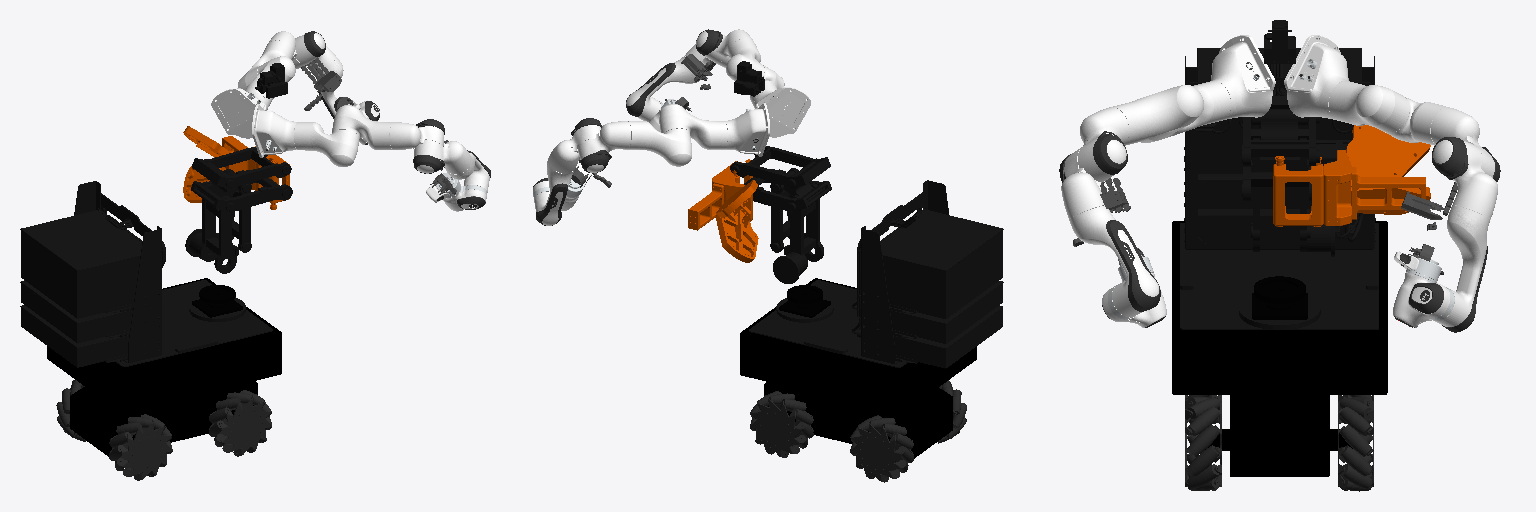
--- What the picture shows (computed from the rendered views, not written in the file) ---
3 views of the same robot in one strip: view 1: azimuth 30°, elevation 25°; view 2: azimuth 150°, elevation 25°; view 3: azimuth 270°, elevation 25° (orthographic).
Robot: curi — 111 links, 110 joints (91 revolute, 4 continuous, 14 fixed, 1 floating); root link world; default pose: joints at zero except 2 at the middle of their limits (panda_left_joint4 = -1.57, panda_right_joint4 = -1.57).
Visible links, largest first — view 1: control_box, summit_xls_base_link, summit_xls_back_right_wheel_link, summit_xls_front_right_wheel_link, torso_link_b2, torso_end, torso_link_c2, panda_right_link1, panda_left_link0, panda_right_link0, torso_link_c1, panda_right_link4 (+10 smaller); view 2: control_box, summit_xls_base_link, torso_end, summit_xls_back_left_wheel_link, summit_xls_front_left_wheel_link, torso_link_b2, torso_link_c2, panda_left_link2, panda_right_link0, panda_left_link1, panda_left_link0, panda_right_link5 (+9 smaller); view 3: control_box, summit_xls_base_link, torso_end, panda_right_link5, panda_right_link0, panda_left_link0, panda_left_link5, summit_xls_front_right_wheel_link, panda_right_link2, panda_left_link4, summit_xls_front_left_wheel_link, panda_left_link1 (+16 smaller).
Link boxes in pixels (x1=…): control_box: x1=20, y1=181, x2=272, y2=367; summit_xls_base_link: x1=47, y1=278, x2=281, y2=456; summit_xls_back_right_wheel_link: x1=109, y1=414, x2=172, y2=480; summit_xls_front_right_wheel_link: x1=209, y1=390, x2=271, y2=456; torso_link_b2: x1=185, y1=184, x2=238, y2=273; torso_end: x1=183, y1=126, x2=289, y2=209; torso_link_c2: x1=192, y1=147, x2=291, y2=189; panda_right_link1: x1=294, y1=122, x2=359, y2=166; panda_left_link0: x1=211, y1=88, x2=267, y2=138; panda_right_link0: x1=252, y1=104, x2=296, y2=157; torso_link_c1: x1=191, y1=169, x2=292, y2=213; panda_right_link4: x1=413, y1=140, x2=470, y2=173; control_box: x1=749, y1=180, x2=1003, y2=368; summit_xls_base_link: x1=740, y1=278, x2=976, y2=458; torso_end: x1=688, y1=159, x2=758, y2=262; summit_xls_back_left_wheel_link: x1=850, y1=415, x2=913, y2=482; summit_xls_front_left_wheel_link: x1=750, y1=391, x2=813, y2=457; torso_link_b2: x1=773, y1=183, x2=823, y2=283; torso_link_c2: x1=730, y1=146, x2=830, y2=188; panda_left_link2: x1=628, y1=121, x2=691, y2=166; panda_right_link0: x1=754, y1=87, x2=810, y2=137; panda_left_link1: x1=659, y1=104, x2=727, y2=149; panda_left_link0: x1=724, y1=103, x2=769, y2=156; panda_right_link5: x1=626, y1=54, x2=700, y2=121; control_box: x1=1180, y1=48, x2=1378, y2=329; summit_xls_base_link: x1=1172, y1=221, x2=1387, y2=476; torso_end: x1=1273, y1=125, x2=1430, y2=226; panda_right_link5: x1=1069, y1=205, x2=1160, y2=316; panda_right_link0: x1=1211, y1=35, x2=1275, y2=119; panda_left_link0: x1=1284, y1=35, x2=1348, y2=119; panda_left_link5: x1=1435, y1=205, x2=1489, y2=332; summit_xls_front_right_wheel_link: x1=1185, y1=397, x2=1221, y2=490; panda_right_link2: x1=1113, y1=85, x2=1203, y2=145; panda_left_link4: x1=1432, y1=137, x2=1497, y2=219; summit_xls_front_left_wheel_link: x1=1338, y1=397, x2=1373, y2=491; panda_left_link1: x1=1329, y1=81, x2=1409, y2=132.
Size in the robot's own frame: 1.76 by 1.18 by 1.51 metres.
73 mesh visuals loaded from 32 distinct referenced files (9 binary STL, 21 Collada DAE); not drawn: 2 (reference not matched to a file when rendering).

The robot description file, URDF, robot "curi":
<?xml version="1.0" ?>
<!-- =================================================================================== -->
<!-- |    This document was autogenerated by xacro from ../robots/curi.urdf.xacro      | -->
<!-- |    EDITING THIS FILE BY HAND IS NOT RECOMMENDED                                 | -->
<!-- =================================================================================== -->
<robot name="curi">
  <!-- in kg-->
  <!-- =============================================================== -->
  <!-- || This file does not contain official inertial properties   || -->
  <!-- || of panda robot. The values are from the identification    || -->
  <!-- || results published in: Identification of the Franka Emika  || -->
  <!-- || PandaRobot With Retrieval of Feasible Parameters Using    || -->
  <!-- || Penalty-Based Optimization                                || -->
  <!-- || by: Claudio Gaz, Marco Cognetti, Alexander Oliva,         || -->
  <!-- || Paolo Robuffo Giordano, Alessandro de Luca                || -->
  <!-- =============================================================== -->
  <link name="world"/>
  <material name="qbhand/optional">
  <color rgba="0.0 0.5 0.8 1.0"/>
  </material>
  <material name="qbhand/base">
    <color rgba="0.35 0.35 0.35 1.0"/>
  </material>
  <material name="qbhand/palm">
    <color rgba="0.35 0.35 0.35 1.0"/>
  </material>
  <material name="qbhand/knuckle">
    <color rgba="0.35 0.35 0.35 1.0"/>
  </material>
  <material name="qbhand/proximal">
    <color rgba="0.35 0.35 0.35 1.0"/>
  </material>
  <material name="qbhand/middle">
    <color rgba="0.35 0.35 0.35 1.0"/>
  </material>
  <material name="qbhand/distal">
    <color rgba="0.35 0.35 0.35 1.0"/>
  </material>
  <material name="qbhand/default">
    <color rgba="0.35 0.35 0.35 1.0"/>
  </material>
  <joint name="reference" type="floating">
    <parent link="world"/>
    <child link="summit_xls_base_footprint"/>
  </joint>
  <link name="summit_xls_base_footprint">
    <visual>
      <origin rpy="0 0 0" xyz="0 0 0"/>
      <geometry>
        <box size="0.001 0.001 0.001"/>
      </geometry>
    </visual>
  </link>
  <joint name="summit_xls_base_footprint_joint" type="fixed">
    <origin rpy="0 0 0" xyz="0 0 0.127"/>
    <parent link="summit_xls_base_footprint"/>
    <child link="summit_xls_base_link"/>
  </joint>
  <!-- BASE_LINK -->
  <link name="summit_xls_base_link">
    <inertial>
      <mass value="125.0"/>
      <origin xyz="0 0 0"/>
      <inertia ixx="1.391" ixy="0.004" ixz="0.0" iyy="6.853" iyz="0.0" izz="6.125"/>
    </inertial>
    <visual>
      <origin rpy="0 0 0" xyz="0 0 0"/>
      <geometry>
        <mesh filename="../meshes/robotnik/bases/summit_xls_chassis.dae"/>
      </geometry>
      <material name="black">
        <color rgba="0.0 0.0 0.0 1"/>
      </material>
    </visual>
    <collision>
      <origin rpy="0 0 0 " xyz="0 0 0"/>
      <geometry>
        <mesh filename="../meshes/robotnik/bases/summit_xls_chassis.stl"/>
      </geometry>
    </collision>
  </link>
  <joint name="summit_xls_front_right_wheel_joint" type="continuous">
    <parent link="summit_xls_base_link"/>
    <child link="summit_xls_front_right_wheel_link"/>
    <origin rpy="0 0 0" xyz="0.2225 -0.2045 0.0"/>
    <axis rpy="0 0 0" xyz="0 1 0"/>
    <limit effort="100" velocity="100"/>
    <joint_properties damping="0.0" friction="0.0"/>
  </joint>
  <link name="summit_xls_front_right_wheel_link">
    <visual>
      <origin rpy="0 0 0" xyz="0 0 0"/>
      <geometry>
        <mesh filename="../meshes/robotnik/wheels/omni_wheel_2.dae"/>
      </geometry>
      <material name="darkgrey">
        <color rgba="0.2 0.2 0.2 1"/>
      </material>
    </visual>
    <collision>
      <origin rpy="1.5707963267948966 0 0" xyz="0 0 0"/>
      <geometry>
        <cylinder length="0.087" radius="0.127"/>
      </geometry>
    </collision>
    <inertial>
      <mass value="6.5"/>
      <origin xyz="0 0 0"/>
      <inertia ixx="0.0303095" ixy="0" ixz="0" iyy="0.05241925" iyz="0" izz="0.0303095"/>
    </inertial>
  </link>
  <joint name="summit_xls_front_left_wheel_joint" type="continuous">
    <parent link="summit_xls_base_link"/>
    <child link="summit_xls_front_left_wheel_link"/>
    <origin rpy="0 0 0" xyz="0.2225 0.2045 0.0"/>
    <axis rpy="0 0 0" xyz="0 1 0"/>
    <limit effort="100" velocity="100"/>
    <joint_properties damping="0.0" friction="0.0"/>
  </joint>
  <link name="summit_xls_front_left_wheel_link">
    <visual>
      <origin rpy="0 0 0" xyz="0 0 0"/>
      <geometry>
        <mesh filename="../meshes/robotnik/wheels/omni_wheel_1.dae"/>
      </geometry>
      <material name="darkgrey">
        <color rgba="0.2 0.2 0.2 1"/>
      </material>
    </visual>
    <collision>
      <origin rpy="1.5707963267948966 0 0" xyz="0 0 0"/>
      <geometry>
        <cylinder length="0.087" radius="0.127"/>
      </geometry>
    </collision>
    <inertial>
      <mass value="6.5"/>
      <origin xyz="0 0 0"/>
      <inertia ixx="0.0303095" ixy="0" ixz="0" iyy="0.05241925" iyz="0" izz="0.0303095"/>
    </inertial>
  </link>
  <joint name="summit_xls_back_left_wheel_joint" type="continuous">
    <parent link="summit_xls_base_link"/>
    <child link="summit_xls_back_left_wheel_link"/>
    <origin rpy="0 0 0" xyz="-0.2225 0.2045 0.0"/>
    <axis rpy="0 0 0" xyz="0 1 0"/>
    <limit effort="100" velocity="100"/>
    <joint_properties damping="0.0" friction="0.0"/>
  </joint>
  <link name="summit_xls_back_left_wheel_link">
    <visual>
      <origin rpy="0 0 0" xyz="0 0 0"/>
      <geometry>
        <mesh filename="../meshes/robotnik/wheels/omni_wheel_1.dae"/>
      </geometry>
      <material name="darkgrey">
        <color rgba="0.2 0.2 0.2 1"/>
      </material>
    </visual>
    <collision>
      <origin rpy="1.5707963267948966 0 0" xyz="0 0 0"/>
      <geometry>
        <cylinder length="0.087" radius="0.127"/>
      </geometry>
    </collision>
    <inertial>
      <mass value="6.5"/>
      <origin xyz="0 0 0"/>
      <inertia ixx="0.0303095" ixy="0" ixz="0" iyy="0.05241925" iyz="0" izz="0.0303095"/>
    </inertial>
  </link>
  <joint name="summit_xls_back_right_wheel_joint" type="continuous">
    <parent link="summit_xls_base_link"/>
    <child link="summit_xls_back_right_wheel_link"/>
    <origin rpy="0 0 0" xyz="-0.2225 -0.2045 0.0"/>
    <axis rpy="0 0 0" xyz="0 1 0"/>
    <limit effort="100" velocity="100"/>
    <joint_properties damping="0.0" friction="0.0"/>
  </joint>
  <link name="summit_xls_back_right_wheel_link">
    <visual>
      <origin rpy="0 0 0" xyz="0 0 0"/>
      <geometry>
        <mesh filename="../meshes/robotnik/wheels/omni_wheel_2.dae"/>
      </geometry>
      <material name="darkgrey">
        <color rgba="0.2 0.2 0.2 1"/>
      </material>
    </visual>
    <collision>
      <origin rpy="1.5707963267948966 0 0" xyz="0 0 0"/>
      <geometry>
        <cylinder length="0.087" radius="0.127"/>
      </geometry>
    </collision>
    <inertial>
      <mass value="6.5"/>
      <origin xyz="0 0 0"/>
      <inertia ixx="0.0303095" ixy="0" ixz="0" iyy="0.05241925" iyz="0" izz="0.0303095"/>
    </inertial>
  </link>
  <joint name="torso_joint_summit_xls_base_footprint" type="fixed">
    <parent link="summit_xls_base_footprint"/>
    <child link="control_box"/>
    <origin rpy="0 0 0" xyz="0 0 0.52262"/>
  </joint>
  <link name="control_box">
    <visual>
      <origin rpy="0 0 0" xyz="0 0 0"/>
      <geometry>
        <mesh filename="../meshes/clover/visual/control_box.dae"/>
      </geometry>
    </visual>
    <inertial>
      <!-- Estimated guesses from CAD -->
      <origin rpy="0 0 0" xyz="-0.221652 1.4173e-02 0.165597"/>
      <mass value="37.813"/>
      <inertia ixx="1.672305973" ixy="-0.023504956" ixz="-0.565170381" iyy="2.616747309" iyz="0.046623093" izz="2.524344244"/>
    </inertial>
  </link>
  <link name="torso_base1">
    <visual>
      <origin rpy="0 0 0" xyz="0 0 0"/>
      <geometry>
        <mesh filename="../meshes/clover/visual/torso_base1.dae"/>
      </geometry>
    </visual>
    <collision>
      <origin rpy="0 0 0" xyz="0 0 0"/>
      <geometry>
        <mesh filename="../meshes/clover/collision/torso_base1.stl"/>
      </geometry>
    </collision>
    <inertial>
      <origin rpy="0 0 0" xyz="0 0 0.02555"/>
      <mass value="1.18"/>
      <inertia ixx="0.00241116" ixy="0" ixz="0" iyy="0.00241116" iyz="0" izz="0.00362611"/>
    </inertial>
  </link>
  <joint name="torso_joint1" type="fixed">
    <origin rpy="0 0 0" xyz="0.2375 0 0.015"/>
    <parent link="control_box"/>
    <child link="torso_base1"/>
  </joint>
  <link name="torso_base2">
    <visual>
      <origin rpy="0 0 0" xyz="0 0 0"/>
      <geometry>
        <mesh filename="../meshes/clover/visual/torso_base2.dae"/>
      </geometry>
    </visual>
    <collision>
      <origin rpy="0 0 0" xyz="0 0 0"/>
      <geometry>
        <mesh filename="../meshes/clover/collision/torso_base2.stl"/>
      </geometry>
    </collision>
    <inertial>
      <origin rpy="0 0 0" xyz="-0.05478 0.03332 -0.07616"/>
      <mass value="35.66"/>
      <inertia ixx="0.87275935" ixy="-0.06173772" ixz="0.01895727" iyy="0.57302356" iyz="0.11888755" izz="1.06212354"/>
    </inertial>
  </link>
  <joint name="torso_actuated_joint1" type="revolute">
    <safety_controller k_position="100.0" k_velocity="40.0" soft_lower_limit="-1.5" soft_upper_limit="1.5"/>
    <origin rpy="0 0 0" xyz="0 0 0.215"/>
    <parent link="torso_base1"/>
    <child link="torso_base2"/>
    <axis xyz="0 0 1"/>
    <limit acceleration="0.6" effort="300" lower="-1.57" upper="1.57" velocity="0.3"/>
    <dynamics D="1" K="7000" damping="0.003" friction="0.0" mu_coulomb="0" mu_viscous="16"/>
  </joint>
  <link name="torso_link_b2">
    <visual>
      <origin rpy="0 0 0" xyz="0 0 0"/>
      <geometry>
        <mesh filename="../meshes/clover/visual/torso_link_b2.dae"/>
      </geometry>
    </visual>
    <collision>
      <origin rpy="0 0 0" xyz="0 0 0"/>
      <geometry>
        <mesh filename="../meshes/clover/collision/torso_link_b2.stl"/>
      </geometry>
    </collision>
    <inertial>
      <origin rpy="0 0 0" xyz="2.066e-03 2.4036e-02 8.3361e-02"/>
      <mass value="2.698"/>
      <inertia ixx="0.035907338" ixy="-0.000134319" ixz="0.000037769" iyy="0.023944853" iyz="-0.005304362" izz="0.014484777"/>
    </inertial>
  </link>
  <joint name="torso_actuated_joint2" type="revolute">
    <safety_controller k_position="100.0" k_velocity="40.0" soft_lower_limit="-1.2" soft_upper_limit="0.5"/>
    <origin rpy="0 0 0" xyz="0 0 0"/>
    <parent link="torso_base2"/>
    <child link="torso_link_b2"/>
    <axis xyz="0 1 0"/>
    <limit acceleration="0.6" effort="300" lower="-1.2" upper="0.5" velocity="0.3"/>
    <dynamics D="1" K="7000" damping="0.003" friction="0.0" mu_coulomb="0" mu_viscous="16"/>
  </joint>
  <link name="torso_middle">
    <visual>
      <origin rpy="0 0 0" xyz="0 0 0"/>
      <geometry>
        <mesh filename="../meshes/clover/visual/torso_middle.dae"/>
      </geometry>
    </visual>
    <collision>
      <origin rpy="0 0 0" xyz="0 0 0"/>
      <geometry>
        <mesh filename="../meshes/clover/collision/torso_middle.stl"/>
      </geometry>
    </collision>
    <inertial>
      <origin rpy="0 0 0" xyz="3.2089e-02 0 4.789e-02"/>
      <mass value="2.688"/>
      <inertia ixx="0.00744652" ixy="-0.00003495" ixz="0.000230038" iyy="0.006884728" iyz="0.000041279" izz="0.008084049"/>
    </inertial>
  </link>
  <joint name="torso_joint5" type="revolute">
    <safety_controller k_position="100.0" k_velocity="40.0" soft_lower_limit="-0.5" soft_upper_limit="1.2"/>
    <origin rpy="0 0 0" xyz="0 0 0.25"/>
    <parent link="torso_link_b2"/>
    <child link="torso_middle"/>
    <axis xyz="0 1 0"/>
    <limit acceleration="0.6" effort="300" lower="-0.5" upper="1.2" velocity="0.3"/>
    <dynamics D="1" K="7000" damping="0.003" friction="0.0" mu_coulomb="0" mu_viscous="16"/>
    <mimic joint="torso_actuated_joint2" multiplier="-1"/>
  </joint>
  <link name="torso_link_c1">
    <visual>
      <origin rpy="0 0 0" xyz="0 0 0"/>
      <geometry>
        <mesh filename="../meshes/clover/visual/torso_link_c1.dae"/>
      </geometry>
    </visual>
    <collision>
      <origin rpy="0 0 0" xyz="0 0 0"/>
      <geometry>
        <mesh filename="../meshes/clover/collision/torso_link_c1.stl"/>
      </geometry>
    </collision>
    <inertial>
      <origin rpy="0 0 0" xyz="0.10533 1.503e-03 9.863e-03"/>
      <mass value="2.4"/>
      <inertia ixx="0.014986407" ixy="-1.7102e-05" ixz="-4.53321e-04" iyy="0.027549549" iyz="-3.557e-05" izz="0.041344611"/>
    </inertial>
  </link>
  <joint name="torso_actuated_joint3" type="revolute">
    <safety_controller k_position="100.0" k_velocity="40.0" soft_lower_limit="-0.9" soft_upper_limit="0.9"/>
    <origin rpy="0 0 0" xyz="0 0 0"/>
    <parent link="torso_middle"/>
    <child link="torso_link_c1"/>
    <axis xyz="0 1 0"/>
    <limit acceleration="0.6" effort="300" lower="-0.9" upper="0.9" velocity="0.3"/>
    <dynamics D="1" K="7000" damping="0.003" friction="0.0" mu_coulomb="0" mu_viscous="16"/>
  </joint>
  <link name="torso_end">
    <visual>
      <origin rpy="0 0 0" xyz="0 0 0"/>
      <geometry>
        <mesh filename="../meshes/clover/visual/torso_end_v2_yup.dae"/>
      </geometry>
    </visual>
    <collision>
      <origin rpy="0 0 0" xyz="0 0 0"/>
      <geometry>
        <mesh filename="../meshes/clover/collision/torso_end_v2_yup.STL"/>
      </geometry>
    </collision>
    <inertial>
      <origin rpy="0 0 0" xyz="1.3086e-02 0.132e-03 0.184066"/>
      <mass value="12.083"/>
      <inertia ixx="0.146638956" ixy="-2.2432e-05" ixz="-0.012989506" iyy="0.097685785" iyz="-2.19304e-04" izz="0.100449047"/>
    </inertial>
  </link>
  <joint name="torso_joint8" type="revolute">
    <safety_controller k_position="100.0" k_velocity="40.0" soft_lower_limit="-0.9" soft_upper_limit="0.9"/>
    <origin rpy="0 0 0" xyz="0.25 0 0"/>
    <parent link="torso_link_c1"/>
    <child link="torso_end"/>
    <axis xyz="0 1 0"/>
    <limit acceleration="0.6" effort="300" lower="-0.9" upper="0.9" velocity="0.3"/>
    <dynamics D="1" K="7000" damping="0.003" friction="0.0" mu_coulomb="0" mu_viscous="16"/>
    <mimic joint="torso_actuated_joint3" multiplier="-1"/>
  </joint>
  <link name="torso_link_b1">
    <visual>
      <origin rpy="0 0 0" xyz="0 0 0"/>
      <geometry>
        <mesh filename="../meshes/clover/visual/torso_link_b1.dae"/>
      </geometry>
    </visual>
    <collision>
      <origin rpy="0 0 0" xyz="0 0 0"/>
      <geometry>
        <mesh filename="../meshes/clover/collision/torso_link_b1.stl"/>
      </geometry>
    </collision>
    <inertial>
      <origin rpy="0 0 0" xyz="0 -0.362e-03 0.12405"/>
      <mass value="1.319"/>
      <inertia ixx="0.01417626" ixy="0" ixz="0" iyy="0.01069895" iyz="0.00005678" izz="0.0039678"/>
    </inertial>
  </link>
  <joint name="torso_joint4" type="revolute">
    <safety_controller k_position="100.0" k_velocity="40.0" soft_lower_limit="-1.2" soft_upper_limit="0.5"/>
    <origin rpy="0 0 0" xyz="0.0866 0 0.05"/>
    <parent link="torso_base2"/>
    <child link="torso_link_b1"/>
    <axis xyz="0 1 0"/>
    <limit acceleration="0.6" effort="300" lower="-1.2" upper="0.5" velocity="0.3"/>
    <dynamics D="1" K="7000" damping="0.003" friction="0.0" mu_coulomb="0" mu_viscous="16"/>
    <mimic joint="torso_actuated_joint2" multiplier="1"/>
  </joint>
  <link name="torso_link_c2">
    <visual>
      <origin rpy="0 0 0" xyz="0 0 0"/>
      <geometry>
        <mesh filename="../meshes/clover/visual/torso_link_c2.dae"/>
      </geometry>
    </visual>
    <collision>
      <origin rpy="0 0 0" xyz="0 0 0"/>
      <geometry>
        <mesh filename="../meshes/clover/collision/torso_link_c2.stl"/>
      </geometry>
    </collision>
    <inertial>
      <origin rpy="0 0 0" xyz="0.120384 0.569e-03 6.703e-03"/>
      <mass value="2.148"/>
      <inertia ixx="0.010693997" ixy="5.645e-06" ixz="-9.4779e-04" iyy="0.026717753" iyz="-8.196e-06" izz="0.036543169"/>
    </inertial>
  </link>
  <joint name="torso_joint7" type="revolute">
    <safety_controller k_position="100.0" k_velocity="40.0" soft_lower_limit="-0.9" soft_upper_limit="0.9"/>
    <origin rpy="0 0 0" xyz="0 0 0.1"/>
    <parent link="torso_middle"/>
    <child link="torso_link_c2"/>
    <axis xyz="0 1 0"/>
    <limit acceleration="0.6" effort="300" lower="-0.9" upper="0.9" velocity="0.3"/>
    <dynamics D="1" K="7000" damping="0.003" friction="0.0" mu_coulomb="0" mu_viscous="16"/>
    <mimic joint="torso_actuated_joint3" multiplier="1"/>
  </joint>
  <joint name="head_joint_torso_end" type="fixed">
    <parent link="torso_end"/>
    <child link="head_base"/>
    <origin rpy="0 0 0" xyz="0.02 0 0.3929"/>
  </joint>
  <link name="head_base">
    <visual>
      <origin rpy="0 0 0" xyz="0 0 0"/>
      <geometry>
        <mesh filename="../meshes/clover/visual/head_base.dae"/>
      </geometry>
    </visual>
    <collision>
      <origin rpy="0 0 0" xyz="0 0 0"/>
      <geometry>
        <mesh filename="../meshes/clover/collision/head_base.stl"/>
      </geometry>
    </collision>
    <inertial>
      <!-- Estimated guesses from CAD -->
      <origin rpy="0 0 0" xyz="-1.9726e-02 1.281e-03 2.2693e-02"/>
      <mass value="0.803"/>
      <inertia ixx="6.56432e-04" ixy="-3.4976e-05" ixz="0.652e-6" iyy="6.42664e-04" iyz="-1.577e-06" izz="1.046862e-03"/>
    </inertial>
  </link>
  <joint name="head_actuated_joint1" type="revolute">
    <safety_controller k_position="100.0" k_velocity="40.0" soft_lower_limit="-1.5" soft_upper_limit="1.5"/>
    <origin rpy="0 0 0" xyz="0 0 0.045"/>
    <parent link="head_base"/>
    <child link="head_link1"/>
    <axis xyz="0 0 1"/>
    <limit effort="30" lower="-1.57" upper="1.57" velocity="1.0"/>
    <dynamics D="1" K="7000" damping="0.003" friction="0.0" mu_coulomb="0" mu_viscous="16"/>
  </joint>
  <link name="head_link1">
    <visual>
      <origin rpy="0 0 0" xyz="0 0 0"/>
      <geometry>
        <mesh filename="../meshes/clover/visual/head_link1.dae"/>
      </geometry>
    </visual>
    <collision>
      <origin rpy="0 0 0" xyz="0 0 0"/>
      <geometry>
        <mesh filename="../meshes/clover/collision/head_link1.stl"/>
      </geometry>
    </collision>
    <inertial>
      <!-- Estimated guesses from CAD -->
      <origin rpy="0 0 0" xyz="-1.8392e-02 -0.4e-03 2.8338e-02"/>
      <mass value="0.534"/>
      <inertia ixx="2.34142e-04" ixy="-3.129e-06" ixz="6.321e-05" iyy="5.09246e-04" iyz="1.49e-06" izz="4.3777e-04"/>
    </inertial>
  </link>
  <joint name="head_actuated_joint2" type="revolute">
    <safety_controller k_position="100.0" k_velocity="40.0" soft_lower_limit="-0.8" soft_upper_limit="0.5"/>
    <origin rpy="0 0 0" xyz="0 0 0.043"/>
    <parent link="head_link1"/>
    <child link="head_link2"/>
    <axis xyz="0 1 0"/>
    <limit effort="30" lower="-0.82" upper="0.52" velocity="1.0"/>
    <dynamics D="1" K="7000" damping="0.003" friction="0.0" mu_coulomb="0" mu_viscous="16"/>
  </joint>
  <link name="head_link2">
    <visual>
      <origin rpy="0 0 0" xyz="0 0 0"/>
      <geometry>
        <mesh filename="../meshes/clover/visual/head_link2.dae"/>
      </geometry>
    </visual>
    <collision>
      <origin rpy="0 0 0" xyz="0 0 0"/>
      <geometry>
        <mesh filename="../meshes/clover/collision/head_link2.stl"/>
      </geometry>
    </collision>
    <inertial>
      <!-- Estimated guesses from CAD -->
      <origin rpy="0 0 0" xyz="3.8624e-02 0 0.143829"/>
      <mass value="1.346"/>
      <inertia ixx="0.010306864" ixy="-5.953e-06" ixz="6.74795e-04" iyy="0.011632066" iyz="-1.125e-06" izz="0.009582498"/>
    </inertial>
  </link>
  <joint name="panda_left_joint_torso_end" type="fixed">
    <parent link="torso_end"/>
    <child link="panda_left_link0"/>
    <origin rpy="-1.3685238493647454 0.913218224774749 -0.6168337646727412" xyz="-0.08537 0.07009 0.2535"/>
  </joint>
  <link name="panda_left_link0">
    <visual>
      <origin rpy="0 0 0" xyz="0 0 0"/>
      <geometry>
        <mesh filename="../meshes/franka/visual/link0.dae"/>
      </geometry>
    </visual>
    <collision>
      <origin rpy="0 0 0" xyz="0 0 0"/>
      <geometry>
        <mesh filename="../meshes/franka/collision/link0.stl"/>
      </geometry>
    </collision>
    <inertial>
      <!-- Estimated guesses from CAD -->
      <origin rpy="0 0 0" xyz="-0.041018 -0.00014 0.049974"/>
      <mass value="0.629769"/>
      <inertia ixx="0.00315" ixy="8.2904E-07" ixz="0.00015" iyy="0.00388" iyz="8.2299E-06" izz="0.004285"/>
    </inertial>
  </link>
  <link name="panda_left_link1">
    <visual>
      <origin rpy="0 0 0" xyz="0 0 0"/>
      <geometry>
        <mesh filename="../meshes/franka/visual/link1.dae"/>
      </geometry>
    </visual>
    <collision>
      <origin rpy="0 0 0" xyz="0 0 0"/>
      <geometry>
        <mesh filename="../meshes/franka/collision/link1.stl"/>
      </geometry>
    </collision>
    <inertial>
      <origin rpy="0 0 0" xyz="0.003875 0.002081 -0.04762"/>
      <mass value="4.970684"/>
      <inertia ixx="0.70337" ixy="-0.00013900" ixz="0.0067720" iyy="0.70661" iyz="0.019169" izz="0.0091170"/>
    </inertial>
  </link>
  <joint name="panda_left_joint1" type="revolute">
    <safety_controller k_position="100.0" k_velocity="40.0" soft_lower_limit="-2.8973" soft_upper_limit="2.8973"/>
    <origin rpy="0 0 0" xyz="0 0 0.333"/>
    <parent link="panda_left_link0"/>
    <child link="panda_left_link1"/>
    <axis xyz="0 0 1"/>
    <limit acceleration="15" effort="87" lower="-2.8973" upper="2.8973" velocity="2.1750"/>
    <dynamics D="1" K="7000" damping="0.003" friction="0.0" mu_coulomb="0" mu_viscous="16"/>
  </joint>
  <link name="panda_left_link2">
    <visual>
      <origin rpy="0 0 0" xyz="0 0 0"/>
      <geometry>
        <mesh filename="../meshes/franka/visual/link2.dae"/>
      </geometry>
    </visual>
    <collision>
      <origin rpy="0 0 0" xyz="0 0 0"/>
      <geometry>
        <mesh filename="../meshes/franka/collision/link2.stl"/>
      </geometry>
    </collision>
    <inertial>
      <origin rpy="0 0 0" xyz=" -0.003141 -0.02872  0.003495"/>
      <mass value="0.646926"/>
      <inertia ixx="0.0079620" ixy="-3.9250e-3" ixz="1.0254e-02" iyy="2.8110e-02" iyz="7.0400e-04" izz="2.5995e-02"/>
    </inertial>
  </link>
  <joint name="panda_left_joint2" type="revolute">
    <safety_controller k_position="100.0" k_velocity="40.0" soft_lower_limit="-1.7628" soft_upper_limit="1.7628"/>
    <origin rpy="-1.5707963267948966 0 0" xyz="0 0 0"/>
    <parent link="panda_left_link1"/>
    <child link="panda_left_link2"/>
    <axis xyz="0 0 1"/>
    <limit acceleration="7.5" effort="87" lower="-1.7628" upper="1.7628" velocity="2.1750"/>
    <dynamics D="1" K="7000" damping="0.003" friction="0.0" mu_coulomb="0" mu_viscous="16"/>
  </joint>
  <link name="panda_left_link3">
    <visual>
      <origin rpy="0 0 0" xyz="0 0 0"/>
      <geometry>
        <mesh filename="../meshes/franka/visual/link3.dae"/>
      </geometry>
    </visual>
    <collision>
      <origin rpy="0 0 0" xyz="0 0 0"/>
      <geometry>
        <mesh filename="../meshes/franka/collision/link3.stl"/>
      </geometry>
    </collision>
    <inertial>
      <origin rpy="0 0 0" xyz="2.7518e-02 3.9252e-02 -6.6502e-02"/>
      <mass value="3.228604"/>
      <inertia ixx="3.7242e-02" ixy="-4.7610e-03" ixz="-1.1396e-02" iyy="3.6155e-02" iyz="-1.2805e-02" izz="1.0830e-02"/>
    </inertial>
  </link>
  <joint name="panda_left_joint3" type="revolute">
    <safety_controller k_position="100.0" k_velocity="40.0" soft_lower_limit="-2.8973" soft_upper_limit="2.8973"/>
    <origin rpy="1.5707963267948966 0 0" xyz="0 -0.316 0"/>
    <parent link="panda_left_link2"/>
    <child link="panda_left_link3"/>
    <axis xyz="0 0 1"/>
    <limit acceleration="12.5" effort="87" lower="-2.8973" upper="2.8973" velocity="2.1750"/>
    <dynamics D="1" K="7000" damping="0.003" friction="0.0" mu_coulomb="0" mu_viscous="16"/>
  </joint>
  <link name="panda_left_link4">
    <visual>
      <origin rpy="0 0 0" xyz="0 0 0"/>
      <geometry>
        <mesh filename="../meshes/franka/visual/link4.dae"/>
      </geometry>
    </visual>
    <collision>
      <origin rpy="0 0 0" xyz="0 0 0"/>
      <geometry>
        <mesh filename="../meshes/franka/collision/link4.stl"/>
      </geometry>
    </collision>
    <inertial>
      <origin rpy="0 0 0" xyz="-5.317e-02 1.04419e-01 2.7454e-02"/>
      <mass value="3.587895"/>
      <inertia ixx="2.5853e-02" ixy="7.7960e-03" ixz="-1.3320e-03" iyy="1.9552e-02" iyz="8.6410e-03" izz="2.8323e-02"/>
    </inertial>
  </link>
  <joint name="panda_left_joint4" type="revolute">
    <safety_controller k_position="100.0" k_velocity="40.0" soft_lower_limit="-3.0718" soft_upper_limit="-0.0698"/>
    <origin rpy="1.5707963267948966 0 0" xyz="0.0825 0 0"/>
    <parent link="panda_left_link3"/>
    <child link="panda_left_link4"/>
    <axis xyz="0 0 1"/>
    <limit acceleration="12.5" effort="87" lower="-3.0718" upper="-0.0698" velocity="2.1750"/>
    <dynamics D="1" K="7000" damping="0.003" friction="0.0" mu_coulomb="0" mu_viscous="16"/>
  </joint>
  <link name="panda_left_link5">
    <visual>
      <origin rpy="0 0 0" xyz="0 0 0"/>
      <geometry>
        <mesh filename="../meshes/franka/visual/link5.dae"/>
      </geometry>
    </visual>
    <collision>
      <origin rpy="0 0 0" xyz="0 0 0"/>
      <geometry>
        <mesh filename="../meshes/franka/collision/link5.stl"/>
      </geometry>
    </collision>
    <inertial>
      <origin rpy="0 0 0" xyz="-1.1953e-02 4.1065e-02 -3.8437e-02"/>
      <mass value="1.225946"/>
      <inertia ixx="3.5549e-02" ixy="-2.1170e-03" ixz="-4.0370e-03" iyy="2.9474e-02" iyz="2.2900e-04" izz="8.6270e-03"/>
    </inertial>
  </link>
  <joint name="panda_left_joint5" type="revolute">
    <safety_controller k_position="100.0" k_velocity="40.0" soft_lower_limit="-2.8973" soft_upper_limit="2.8973"/>
    <origin rpy="-1.5707963267948966 0 0" xyz="-0.0825 0.384 0"/>
    <parent link="panda_left_link4"/>
    <child link="panda_left_link5"/>
    <axis xyz="0 0 1"/>
    <limit acceleration="15" effort="12" lower="-2.8973" upper="2.8973" velocity="2.6100"/>
    <dynamics D="1" K="7000" damping="0.003" friction="0.0" mu_coulomb="0" mu_viscous="16"/>
  </joint>
  <link name="panda_left_link6">
    <visual>
      <origin rpy="0 0 0" xyz="0 0 0"/>
      <geometry>
        <mesh filename="../meshes/franka/visual/link6.dae"/>
      </geometry>
    </visual>
    <collision>
      <origin rpy="0 0 0" xyz="0 0 0"/>
      <geometry>
        <mesh filename="../meshes/franka/collision/link6.stl"/>
      </geometry>
    </collision>
    <inertial>
      <origin rpy="0 0 0" xyz="6.0149e-02 -1.4117e-02 -1.0517e-02"/>
      <mass value="1.666555"/>
      <inertia ixx="1.9640e-03" ixy="1.0900e-04" ixz="-1.1580e-03" iyy="4.3540e-03" iyz="3.4100e-04" izz="5.4330e-03"/>
    </inertial>
  </link>
  <joint name="panda_left_joint6" type="revolute">
    <safety_controller k_position="100.0" k_velocity="40.0" soft_lower_limit="-0.0175" soft_upper_limit="3.7525"/>
    <origin rpy="1.5707963267948966 0 0" xyz="0 0 0"/>
    <parent link="panda_left_link5"/>
    <child link="panda_left_link6"/>
    <axis xyz="0 0 1"/>
    <limit acceleration="20" effort="12" lower="-0.0175" upper="3.7525" velocity="2.6100"/>
    <dynamics D="1" K="7000" damping="0.003" friction="0.0" mu_coulomb="0" mu_viscous="16"/>
  </joint>
  <link name="panda_left_link7">
    <visual>
      <origin rpy="0 0 0" xyz="0 0 0"/>
      <geometry>
        <mesh filename="../meshes/franka/visual/link7.dae"/>
      </geometry>
    </visual>
    <collision>
      <origin rpy="0 0 0" xyz="0 0 0"/>
      <geometry>
        <mesh filename="../meshes/franka/collision/link7.stl"/>
      </geometry>
    </collision>
    <inertial>
      <origin rpy="0 0 0" xyz="1.0517e-02 -4.252e-03 6.1597e-02"/>
      <mass value="7.35522e-01"/>
      <inertia ixx="1.2516e-02" ixy="-4.2800e-04" ixz="-1.1960e-03" iyy="1.0027e-02" iyz="-7.4100e-04" izz="4.8150e-03"/>
    </inertial>
  </link>
  <joint name="panda_left_joint7" type="revolute">
    <safety_controller k_position="100.0" k_velocity="40.0" soft_lower_limit="-2.8973" soft_upper_limit="2.8973"/>
    <origin rpy="1.5707963267948966 0 0" xyz="0.088 0 0"/>
    <parent link="panda_left_link6"/>
    <child link="panda_left_link7"/>
    <axis xyz="0 0 1"/>
    <limit acceleration="20" effort="12" lower="-2.8973" upper="2.8973" velocity="2.6100"/>
    <dynamics D="1" K="7000" damping="0.003" friction="0.0" mu_coulomb="0" mu_viscous="16"/>
  </joint>
  <joint name="panda_left_end_effector_joint" type="fixed">
    <parent link="panda_left_link7"/>
    <child link="left_hand_root_link"/>
    <origin rpy="0 0 -0.7853981633974483" xyz="0 0 0.107"/>
  </joint>
  <link name="left_hand_root_link"/>
  <joint name="left_qbhand_base_fixed_joint" type="fixed">
    <origin rpy="0 0 0" xyz="0 0 0"/>
    <parent link="left_hand_root_link"/>
    <child link="left_qbhand_base_link"/>
  </joint>
  <link name="left_qbhand_base_link">
    <inertial>
      <mass value="0.205"/>
      <origin rpy="0 0 0" xyz="0.0 7.8738498e-04 1.5878899e-02"/>
      <inertia ixx="0.00012506929" ixy="0.0" ixz="0.0" iyy="0.0001338779" iyz="0.0" izz="0.00019218394"/>
    </inertial>
    <visual>
      <origin rpy="0 0 0" xyz="0 0 0"/>
      <geometry>
        <mesh filename="../meshes/qbhand/flange_iso_04_yupzfront.STL" scale="1 1 1"/>
      </geometry>
      <material name="qbhand/base">
        <color rgba="0.35 0.35 0.35 1.0"/>
      </material>
    </visual>
    <collision>
      <origin rpy="0 0 0" xyz="0 0 0"/>
      <geometry>
        <mesh filename="../meshes/qbhand/flange_iso_04_yupzfront.STL" scale="1 1 1"/>
      </geometry>
    </collision>
  </link>
  <joint name="left_qbhand_palm_fixed_joint" type="fixed">
    <origin rpy="1.57 0 3.14" xyz="0.0045 0.0145 0.144"/>
    <parent link="left_qbhand_base_link"/>
    <child link="left_qbhand_palm_link"/>
  </joint>
  <link name="left_qbhand_palm_link">
    <inertial>
      <mass value="0.45"/>
      <origin rpy="0 0 0" xyz="0.0030 -0.0449 -0.0135"/>
      <inertia ixx="0.00045" ixy="0.0" ixz="0.0" iyy="0.0006" iyz="0.0" izz="0.00025"/>
    </inertial>
    <visual>
      <origin rpy="0 0 0" xyz="0 0 0"/>
      <geometry>
        <mesh filename="../meshes/qbhand/palm_pinch_l_yupzfront1.STL" scale="1000 1000 1000"/>
      </geometry>
      <material name="qbhand/palm">
        <color rgba="0.35 0.35 0.35 1.0"/>
      </material>
    </visual>
    <collision>
      <origin rpy="0 0 0" xyz="0 0 0"/>
      <geometry>
        <mesh filename="../meshes/qbhand/palm_pinch_l_yupzfront1.STL" scale="1000 1000 1000"/>
      </geometry>
    </collision>
  </link>
  <joint name="left_qbhand_synergy_joint" type="revolute">
    <origin rpy="0 0 0" xyz="0 0 0"/>
    <parent link="left_qbhand_palm_link"/>
    <child link="left_qbhand_synergy_tendon_virtual_link"/>
    <axis xyz="0 0 1"/>
    <dynamics damping="0.0" friction="0.0"/>
    <limit effort="100" lower="0.0" upper="1.0" velocity="100"/>
  </joint>
  <link name="left_qbhand_synergy_tendon_virtual_link">
    <inertial>
      <origin rpy="0 0 0" xyz="0 0 0"/>
      <mass value="1e-4"/>
      <inertia ixx="1e-9" ixy="0.0" ixz="0.0" iyy="1e-9" iyz="0.0" izz="1e-9"/>
    </inertial>
  </link>
  <joint name="left_qbhand_thumb_knuckle_joint" type="revolute">
    <origin rpy="-1.57 3.14 0.0" xyz="-0.044 -0.0465 0.002"/>
    <parent link="left_qbhand_palm_link"/>
    <child link="left_qbhand_thumb_knuckle_link"/>
    <axis xyz="0 0 1"/>
    <dynamics damping="0.0" friction="0.0"/>
    <limit effort="100" lower="0.0" upper="1.571" velocity="100"/>
    <mimic joint="left_qbhand_synergy_joint" multiplier="2.542"/>
  </joint>
  <link name="left_qbhand_thumb_knuckle_link">
    <inertial>
      <mass value="0.01"/>
      <origin rpy="0 0 0" xyz="1.3071561e-02 2.7346340e-03 6.4090487e-04"/>
      <inertia ixx="3.5827953e-07" ixy="-2.0934657e-07" ixz="-6.8435459e-08" iyy="1.3882698e-06" iyz="-3.2001578e-08" izz="1.3570267e-06"/>
    </inertial>
    <visual>
      <origin rpy="0 0 0" xyz="0 0 0"/>
      <geometry>
        <mesh filename="../meshes/qbhand/ph_thumb_l_yupzfront1.STL" scale="1 1 1"/>
      </geometry>
      <material name="qbhand/knuckle">
        <color rgba="0.35 0.35 0.35 1.0"/>
      </material>
    </visual>
    <collision>
      <origin rpy="0 0 0" xyz="0 0 0"/>
      <geometry>
        <mesh filename="../meshes/qbhand/ph_thumb_l_yupzfront1.STL" scale="1 1 1"/>
      </geometry>
    </collision>
  </link>
  <joint name="left_qbhand_thumb_proximal_joint" type="revolute">
    <origin rpy="-2.0 0.0 0.0" xyz="0.0255 0.0038 -0.00012"/>
    <parent link="left_qbhand_thumb_knuckle_link"/>
    <child link="left_qbhand_thumb_proximal_virtual_link"/>
    <axis xyz="0 0 -1"/>
    <dynamics damping="0.0" friction="0.0"/>
    <limit effort="100" lower="0.0" upper="0.785" velocity="100"/>
    <mimic joint="left_qbhand_synergy_joint" multiplier="0.785"/>
  </joint>
  <link name="left_qbhand_thumb_proximal_virtual_link">
    <inertial>
      <origin rpy="0 0 0" xyz="0 0 0"/>
      <mass value="1e-4"/>
      <inertia ixx="1e-9" ixy="0.0" ixz="0.0" iyy="1e-9" iyz="0.0" izz="1e-9"/>
    </inertial>
  </link>
  <joint name="left_qbhand_thumb_proximal_virtual_joint" type="revolute">
    <origin rpy="0 0 0" xyz="0.013 0 0"/>
    <parent link="left_qbhand_thumb_proximal_virtual_link"/>
    <child link="left_qbhand_thumb_proximal_link"/>
    <axis xyz="0 0 -1"/>
    <dynamics damping="0.0" friction="0.0"/>
    <limit effort="100" lower="0.0" upper="0.785" velocity="100"/>
    <mimic joint="left_qbhand_thumb_proximal_joint" multiplier="1.0"/>
  </joint>
  <link name="left_qbhand_thumb_proximal_link">
    <inertial>
      <mass value="0.0063"/>
      <origin rpy="0 0 0" xyz="4.7601567e-03 -1.3786947e-03 0.0"/>
      <inertia ixx="1.8024201e-07" ixy="5.756798e-09" ixz="0.0" iyy="2.3516266e-07" iyz="0.0" izz="2.691504e-07"/>
    </inertial>
    <visual>
      <origin rpy="0 0 0" xyz="0 0 0"/>
      <geometry>
        <mesh filename="../meshes/qbhand/ph_short_yupzfront1.STL" scale="1 1 1"/>
      </geometry>
      <material name="qbhand/proximal">
        <color rgba="0.35 0.35 0.35 1.0"/>
      </material>
    </visual>
    <collision>
      <origin rpy="0 0 0" xyz="0 0 0"/>
      <geometry>
        <mesh filename="../meshes/qbhand/ph_short_yupzfront1.STL" scale="1 1 1"/>
      </geometry>
    </collision>
  </link>
  <joint name="left_qbhand_thumb_distal_joint" type="revolute">
    <origin rpy="0 0 0" xyz="0.009 0 0"/>
    <parent link="left_qbhand_thumb_proximal_link"/>
    <child link="left_qbhand_thumb_distal_virtual_link"/>
    <axis xyz="0 0 -1"/>
    <dynamics damping="0.0" friction="0.0"/>
    <limit effort="100" lower="0.0" upper="0.785" velocity="100"/>
    <mimic joint="left_qbhand_synergy_joint" multiplier="0.785"/>
  </joint>
  <link name="left_qbhand_thumb_distal_virtual_link">
    <inertial>
      <origin rpy="0 0 0" xyz="0 0 0"/>
      <mass value="1e-4"/>
      <inertia ixx="1e-9" ixy="0.0" ixz="0.0" iyy="1e-9" iyz="0.0" izz="1e-9"/>
    </inertial>
  </link>
  <joint name="left_qbhand_thumb_distal_virtual_joint" type="revolute">
    <origin rpy="0 0 0" xyz="0.013 0 0"/>
    <parent link="left_qbhand_thumb_distal_virtual_link"/>
    <child link="left_qbhand_thumb_distal_link"/>
    <axis xyz="0 0 -1"/>
    <dynamics damping="0.0" friction="0.0"/>
    <limit effort="100" lower="0.0" upper="0.785" velocity="100"/>
    <mimic joint="left_qbhand_thumb_distal_joint" multiplier="1.0"/>
  </joint>
  <link name="left_qbhand_thumb_distal_link">
    <inertial>
      <mass value="0.009"/>
      <origin rpy="0 0 0" xyz="8.8025467e-03 -1.7219289e-03 0.0"/>
      <inertia ixx="2.6586142e-07" ixy="1.2416847e-08" ixz="0.0" iyy="5.9935767e-07" iyz="0.0" izz="6.6781963e-07"/>
    </inertial>
    <visual>
      <origin rpy="0 0 0" xyz="0 0 0"/>
      <geometry>
        <mesh filename="../meshes/qbhand/ph_distal_yupzfront1.STL" scale="1 1 1"/>
      </geometry>
      <material name="qbhand/distal">
        <color rgba="0.35 0.35 0.35 1.0"/>
      </material>
    </visual>
    <collision>
      <origin rpy="0 0 0" xyz="0 0 0"/>
      <geometry>
        <mesh filename="../meshes/qbhand/ph_distal_yupzfront1.STL" scale="1 1 1"/>
      </geometry>
    </collision>
  </link>
  <joint name="left_qbhand_index_knuckle_joint" type="revolute">
    <origin rpy="0 3.14 -1.57" xyz="-0.02 -0.007 -0.014"/>
    <parent link="left_qbhand_palm_link"/>
    <child link="left_qbhand_index_knuckle_link"/>
    <axis xyz="0 0 -1"/>
    <dynamics damping="0.0" friction="0.0"/>
    <limit effort="100" lower="-0.524" upper="0.524" velocity="100"/>
    <mimic joint="left_qbhand_synergy_joint" multiplier="0.2"/>
  </joint>
  <link name="left_qbhand_index_knuckle_link">
    <inertial>
      <mass value="0.0095"/>
      <origin rpy="0 0 0" xyz="4.2753603e-04  0.0 -1.4321738e-03"/>
      <inertia ixx="6.4337303e-07" ixy="0.0" ixz="-3.9373913e-08" iyy="1.1253771e-06" iyz="0.0" izz="7.2336948e-07"/>
    </inertial>
    <visual>
      <origin rpy="0 0 0" xyz="0 0 0"/>
      <geometry>
        <mesh filename="../meshes/qbhand/ph_knuckle_yupzfront1.STL" scale="1 1 1"/>
      </geometry>
      <material name="qbhand/knuckle">
        <color rgba="0.35 0.35 0.35 1.0"/>
      </material>
    </visual>
    <collision>
      <origin rpy="0 0 0" xyz="0 0 0"/>
      <geometry>
        <mesh filename="../meshes/qbhand/ph_knuckle_yupzfront1.STL" scale="1 1 1"/>
      </geometry>
    </collision>
  </link>
  <joint name="left_qbhand_index_proximal_joint" type="revolute">
    <origin rpy="1.57 0 0" xyz="0.009 0 0"/>
    <parent link="left_qbhand_index_knuckle_link"/>
    <child link="left_qbhand_index_proximal_virtual_link"/>
    <axis xyz="0 0 -1"/>
    <dynamics damping="0.0" friction="0.0"/>
    <limit effort="100" lower="0.0" upper="0.785" velocity="100"/>
    <mimic joint="left_qbhand_synergy_joint" multiplier="0.785"/>
  </joint>
  <link name="left_qbhand_index_proximal_virtual_link">
    <inertial>
      <origin rpy="0 0 0" xyz="0 0 0"/>
      <mass value="1e-4"/>
      <inertia ixx="1e-9" ixy="0.0" ixz="0.0" iyy="1e-9" iyz="0.0" izz="1e-9"/>
    </inertial>
  </link>
  <joint name="left_qbhand_index_proximal_virtual_joint" type="revolute">
    <origin rpy="0 0 0" xyz="0.013 0 0"/>
    <parent link="left_qbhand_index_proximal_virtual_link"/>
    <child link="left_qbhand_index_proximal_link"/>
    <axis xyz="0 0 -1"/>
    <dynamics damping="0.0" friction="0.0"/>
    <limit effort="100" lower="0.0" upper="0.785" velocity="100"/>
    <mimic joint="left_qbhand_index_proximal_joint" multiplier="1.0"/>
  </joint>
  <link name="left_qbhand_index_proximal_link">
    <inertial>
      <mass value="0.0082"/>
      <origin rpy="0 0 0" xyz="8.7707437e-03 -1.7863138e-03 0.0"/>
      <inertia ixx="2.2722068e-07" ixy="1.1586053e-08" ixz="0.0" iyy="5.5947233e-07" iyz="0.0" izz="5.9562195e-07"/>
    </inertial>
    <visual>
      <origin rpy="0 0 0" xyz="0 0 0"/>
      <geometry>
        <mesh filename="../meshes/qbhand/ph_medium_yupzfront1.STL" scale="1 1 1"/>
      </geometry>
      <material name="qbhand/proximal">
        <color rgba="0.35 0.35 0.35 1.0"/>
      </material>
    </visual>
    <collision>
      <origin rpy="0 0 0" xyz="0 0 0"/>
      <geometry>
        <mesh filename="../meshes/qbhand/ph_medium_yupzfront1.STL" scale="1 1 1"/>
      </geometry>
    </collision>
  </link>
  <joint name="left_qbhand_index_middle_joint" type="revolute">
    <origin rpy="0 0 0" xyz="0.017 0 0"/>
    <parent link="left_qbhand_index_proximal_link"/>
    <child link="left_qbhand_index_middle_virtual_link"/>
    <axis xyz="0 0 -1"/>
    <dynamics damping="0.0" friction="0.0"/>
    <limit effort="100" lower="0.0" upper="0.785" velocity="100"/>
    <mimic joint="left_qbhand_synergy_joint" multiplier="0.785"/>
  </joint>
  <link name="left_qbhand_index_middle_virtual_link">
    <inertial>
      <origin rpy="0 0 0" xyz="0 0 0"/>
      <mass value="1e-4"/>
      <inertia ixx="1e-9" ixy="0.0" ixz="0.0" iyy="1e-9" iyz="0.0" izz="1e-9"/>
    </inertial>
  </link>
  <joint name="left_qbhand_index_middle_virtual_joint" type="revolute">
    <origin rpy="0 0 0" xyz="0.013 0 0"/>
    <parent link="left_qbhand_index_middle_virtual_link"/>
    <child link="left_qbhand_index_middle_link"/>
    <axis xyz="0 0 -1"/>
    <dynamics damping="0.0" friction="0.0"/>
    <limit effort="100" lower="0.0" upper="0.785" velocity="100"/>
    <mimic joint="left_qbhand_index_middle_joint" multiplier="1.0"/>
  </joint>
  <link name="left_qbhand_index_middle_link">
    <inertial>
      <mass value="0.0063"/>
      <origin rpy="0 0 0" xyz="4.7601567e-03 -1.3786947e-03 0.0"/>
      <inertia ixx="1.8024201e-07" ixy="5.756798e-09" ixz="0.0" iyy="2.3516266e-07" iyz="0.0" izz="2.691504e-07"/>
    </inertial>
    <visual>
      <origin rpy="0 0 0" xyz="0 0 0"/>
      <geometry>
        <mesh filename="../meshes/qbhand/ph_short_yupzfront1.STL" scale="1 1 1"/>
      </geometry>
      <material name="qbhand/middle">
        <color rgba="0.35 0.35 0.35 1.0"/>
      </material>
    </visual>
    <collision>
      <origin rpy="0 0 0" xyz="0 0 0"/>
      <geometry>
        <mesh filename="../meshes/qbhand/ph_short_yupzfront1.STL" scale="1 1 1"/>
      </geometry>
    </collision>
  </link>
  <joint name="left_qbhand_index_distal_joint" type="revolute">
    <origin rpy="0 0 0" xyz="0.009 0 0"/>
    <parent link="left_qbhand_index_middle_link"/>
    <child link="left_qbhand_index_distal_virtual_link"/>
    <axis xyz="0 0 -1"/>
    <dynamics damping="0.0" friction="0.0"/>
    <limit effort="100" lower="0.0" upper="0.785" velocity="100"/>
    <mimic joint="left_qbhand_synergy_joint" multiplier="0.785"/>
  </joint>
  <link name="left_qbhand_index_distal_virtual_link">
    <inertial>
      <origin rpy="0 0 0" xyz="0 0 0"/>
      <mass value="1e-4"/>
      <inertia ixx="1e-9" ixy="0.0" ixz="0.0" iyy="1e-9" iyz="0.0" izz="1e-9"/>
    </inertial>
  </link>
  <joint name="left_qbhand_index_distal_virtual_joint" type="revolute">
    <origin rpy="0 0 0" xyz="0.013 0 0"/>
    <parent link="left_qbhand_index_distal_virtual_link"/>
    <child link="left_qbhand_index_distal_link"/>
    <axis xyz="0 0 -1"/>
    <dynamics damping="0.0" friction="0.0"/>
    <limit effort="100" lower="0.0" upper="0.785" velocity="100"/>
    <mimic joint="left_qbhand_index_distal_joint" multiplier="1.0"/>
  </joint>
  <link name="left_qbhand_index_distal_link">
    <inertial>
      <mass value="0.009"/>
      <origin rpy="0 0 0" xyz="8.8025467e-03 -1.7219289e-03 0.0"/>
      <inertia ixx="2.6586142e-07" ixy="1.2416847e-08" ixz="0.0" iyy="5.9935767e-07" iyz="0.0" izz="6.6781963e-07"/>
    </inertial>
    <visual>
      <origin rpy="0 0 0" xyz="0 0 0"/>
      <geometry>
        <mesh filename="../meshes/qbhand/ph_distal_yupzfront1.STL" scale="1 1 1"/>
      </geometry>
      <material name="qbhand/distal">
        <color rgba="0.35 0.35 0.35 1.0"/>
      </material>
    </visual>
    <collision>
      <origin rpy="0 0 0" xyz="0 0 0"/>
      <geometry>
        <mesh filename="../meshes/qbhand/ph_distal_yupzfront1.STL" scale="1 1 1"/>
      </geometry>
    </collision>
  </link>
  <joint name="left_qbhand_middle_knuckle_joint" type="revolute">
    <origin rpy="0 3.14 -1.57" xyz="0 0 -0.014"/>
    <parent link="left_qbhand_palm_link"/>
    <child link="left_qbhand_middle_knuckle_link"/>
    <axis xyz="0 0 -1"/>
    <dynamics damping="0.0" friction="0.0"/>
    <limit effort="100" lower="-0.524" upper="0.524" velocity="100"/>
    <mimic joint="left_qbhand_synergy_joint" multiplier="0.0"/>
  </joint>
  <link name="left_qbhand_middle_knuckle_link">
    <inertial>
      <mass value="0.0095"/>
      <origin rpy="0 0 0" xyz="4.2753603e-04  0.0 -1.4321738e-03"/>
      <inertia ixx="6.4337303e-07" ixy="0.0" ixz="-3.9373913e-08" iyy="1.1253771e-06" iyz="0.0" izz="7.2336948e-07"/>
    </inertial>
    <visual>
      <origin rpy="0 0 0" xyz="0 0 0"/>
      <geometry>
        <mesh filename="../meshes/qbhand/ph_knuckle_yupzfront1.STL" scale="1 1 1"/>
      </geometry>
      <material name="qbhand/knuckle">
        <color rgba="0.35 0.35 0.35 1.0"/>
      </material>
    </visual>
    <collision>
      <origin rpy="0 0 0" xyz="0 0 0"/>
      <geometry>
        <mesh filename="../meshes/qbhand/ph_knuckle_yupzfront1.STL" scale="1 1 1"/>
      </geometry>
    </collision>
  </link>
  <joint name="left_qbhand_middle_proximal_joint" type="revolute">
    <origin rpy="1.57 0 0" xyz="0.009 0 0"/>
    <parent link="left_qbhand_middle_knuckle_link"/>
    <child link="left_qbhand_middle_proximal_virtual_link"/>
    <axis xyz="0 0 -1"/>
    <dynamics damping="0.0" friction="0.0"/>
    <limit effort="100" lower="0.0" upper="0.785" velocity="100"/>
    <mimic joint="left_qbhand_synergy_joint" multiplier="0.785"/>
  </joint>
  <link name="left_qbhand_middle_proximal_virtual_link">
    <inertial>
      <origin rpy="0 0 0" xyz="0 0 0"/>
      <mass value="1e-4"/>
      <inertia ixx="1e-9" ixy="0.0" ixz="0.0" iyy="1e-9" iyz="0.0" izz="1e-9"/>
    </inertial>
  </link>
  <joint name="left_qbhand_middle_proximal_virtual_joint" type="revolute">
    <origin rpy="0 0 0" xyz="0.013 0 0"/>
    <parent link="left_qbhand_middle_proximal_virtual_link"/>
    <child link="left_qbhand_middle_proximal_link"/>
    <axis xyz="0 0 -1"/>
    <dynamics damping="0.0" friction="0.0"/>
    <limit effort="100" lower="0.0" upper="0.785" velocity="100"/>
    <mimic joint="left_qbhand_middle_proximal_joint" multiplier="1.0"/>
  </joint>
  <link name="left_qbhand_middle_proximal_link">
    <inertial>
      <mass value="0.0082"/>
      <origin rpy="0 0 0" xyz="8.7707437e-03 -1.7863138e-03 0.0"/>
      <inertia ixx="2.2722068e-07" ixy="1.1586053e-08" ixz="0.0" iyy="5.5947233e-07" iyz="0.0" izz="5.9562195e-07"/>
    </inertial>
    <visual>
      <origin rpy="0 0 0" xyz="0 0 0"/>
      <geometry>
        <mesh filename="../meshes/qbhand/ph_medium_yupzfront1.STL" scale="1 1 1"/>
      </geometry>
      <material name="qbhand/proximal">
        <color rgba="0.35 0.35 0.35 1.0"/>
      </material>
    </visual>
    <collision>
      <origin rpy="0 0 0" xyz="0 0 0"/>
      <geometry>
        <mesh filename="../meshes/qbhand/ph_medium_yupzfront1.STL" scale="1 1 1"/>
      </geometry>
    </collision>
  </link>
  <joint name="left_qbhand_middle_middle_joint" type="revolute">
    <origin rpy="0 0 0" xyz="0.017 0 0"/>
    <parent link="left_qbhand_middle_proximal_link"/>
    <child link="left_qbhand_middle_middle_virtual_link"/>
    <axis xyz="0 0 -1"/>
    <dynamics damping="0.0" friction="0.0"/>
    <limit effort="100" lower="0.0" upper="0.785" velocity="100"/>
    <mimic joint="left_qbhand_synergy_joint" multiplier="0.785"/>
  </joint>
  <link name="left_qbhand_middle_middle_virtual_link">
    <inertial>
      <origin rpy="0 0 0" xyz="0 0 0"/>
      <mass value="1e-4"/>
      <inertia ixx="1e-9" ixy="0.0" ixz="0.0" iyy="1e-9" iyz="0.0" izz="1e-9"/>
    </inertial>
  </link>
  <joint name="left_qbhand_middle_middle_virtual_joint" type="revolute">
    <origin rpy="0 0 0" xyz="0.013 0 0"/>
    <parent link="left_qbhand_middle_middle_virtual_link"/>
    <child link="left_qbhand_middle_middle_link"/>
    <axis xyz="0 0 -1"/>
    <dynamics damping="0.0" friction="0.0"/>
    <limit effort="100" lower="0.0" upper="0.785" velocity="100"/>
    <mimic joint="left_qbhand_middle_middle_joint" multiplier="1.0"/>
  </joint>
  <link name="left_qbhand_middle_middle_link">
    <inertial>
      <mass value="0.0063"/>
      <origin rpy="0 0 0" xyz="4.7601567e-03 -1.3786947e-03 0.0"/>
      <inertia ixx="1.8024201e-07" ixy="5.756798e-09" ixz="0.0" iyy="2.3516266e-07" iyz="0.0" izz="2.691504e-07"/>
    </inertial>
    <visual>
      <origin rpy="0 0 0" xyz="0 0 0"/>
      <geometry>
        <mesh filename="../meshes/qbhand/ph_short_yupzfront1.STL" scale="1 1 1"/>
      </geometry>
      <material name="qbhand/middle">
        <color rgba="0.35 0.35 0.35 1.0"/>
      </material>
    </visual>
    <collision>
      <origin rpy="0 0 0" xyz="0 0 0"/>
      <geometry>
        <mesh filename="../meshes/qbhand/ph_short_yupzfront1.STL" scale="1 1 1"/>
      </geometry>
    </collision>
  </link>
  <joint name="left_qbhand_middle_distal_joint" type="revolute">
    <origin rpy="0 0 0" xyz="0.009 0 0"/>
    <parent link="left_qbhand_middle_middle_link"/>
    <child link="left_qbhand_middle_distal_virtual_link"/>
    <axis xyz="0 0 -1"/>
    <dynamics damping="0.0" friction="0.0"/>
    <limit effort="100" lower="0.0" upper="0.785" velocity="100"/>
    <mimic joint="left_qbhand_synergy_joint" multiplier="0.785"/>
  </joint>
  <link name="left_qbhand_middle_distal_virtual_link">
    <inertial>
      <origin rpy="0 0 0" xyz="0 0 0"/>
      <mass value="1e-4"/>
      <inertia ixx="1e-9" ixy="0.0" ixz="0.0" iyy="1e-9" iyz="0.0" izz="1e-9"/>
    </inertial>
  </link>
  <joint name="left_qbhand_middle_distal_virtual_joint" type="revolute">
    <origin rpy="0 0 0" xyz="0.013 0 0"/>
    <parent link="left_qbhand_middle_distal_virtual_link"/>
    <child link="left_qbhand_middle_distal_link"/>
    <axis xyz="0 0 -1"/>
    <dynamics damping="0.0" friction="0.0"/>
    <limit effort="100" lower="0.0" upper="0.785" velocity="100"/>
    <mimic joint="left_qbhand_middle_distal_joint" multiplier="1.0"/>
  </joint>
  <link name="left_qbhand_middle_distal_link">
    <inertial>
      <mass value="0.009"/>
      <origin rpy="0 0 0" xyz="8.8025467e-03 -1.7219289e-03 0.0"/>
      <inertia ixx="2.6586142e-07" ixy="1.2416847e-08" ixz="0.0" iyy="5.9935767e-07" iyz="0.0" izz="6.6781963e-07"/>
    </inertial>
    <visual>
      <origin rpy="0 0 0" xyz="0 0 0"/>
      <geometry>
        <mesh filename="../meshes/qbhand/ph_distal_yupzfront1.STL" scale="1 1 1"/>
      </geometry>
      <material name="qbhand/distal">
        <color rgba="0.35 0.35 0.35 1.0"/>
      </material>
    </visual>
    <collision>
      <origin rpy="0 0 0" xyz="0 0 0"/>
      <geometry>
        <mesh filename="../meshes/qbhand/ph_distal_yupzfront1.STL" scale="1 1 1"/>
      </geometry>
    </collision>
  </link>
  <joint name="left_qbhand_ring_knuckle_joint" type="revolute">
    <origin rpy="0 3.14 -1.57" xyz="0.02 -0.007 -0.014"/>
    <parent link="left_qbhand_palm_link"/>
    <child link="left_qbhand_ring_knuckle_link"/>
    <axis xyz="0 0 -1"/>
    <dynamics damping="0.0" friction="0.0"/>
    <limit effort="100" lower="-0.524" upper="0.524" velocity="100"/>
    <mimic joint="left_qbhand_synergy_joint" multiplier="-0.2"/>
  </joint>
  <link name="left_qbhand_ring_knuckle_link">
    <inertial>
      <mass value="0.0095"/>
      <origin rpy="0 0 0" xyz="4.2753603e-04  0.0 -1.4321738e-03"/>
      <inertia ixx="6.4337303e-07" ixy="0.0" ixz="-3.9373913e-08" iyy="1.1253771e-06" iyz="0.0" izz="7.2336948e-07"/>
    </inertial>
    <visual>
      <origin rpy="0 0 0" xyz="0 0 0"/>
      <geometry>
        <mesh filename="../meshes/qbhand/ph_knuckle_yupzfront1.STL" scale="1 1 1"/>
      </geometry>
      <material name="qbhand/knuckle">
        <color rgba="0.35 0.35 0.35 1.0"/>
      </material>
    </visual>
    <collision>
      <origin rpy="0 0 0" xyz="0 0 0"/>
      <geometry>
        <mesh filename="../meshes/qbhand/ph_knuckle_yupzfront1.STL" scale="1 1 1"/>
      </geometry>
    </collision>
  </link>
  <joint name="left_qbhand_ring_proximal_joint" type="revolute">
    <origin rpy="1.57 0 0" xyz="0.009 0 0"/>
    <parent link="left_qbhand_ring_knuckle_link"/>
    <child link="left_qbhand_ring_proximal_virtual_link"/>
    <axis xyz="0 0 -1"/>
    <dynamics damping="0.0" friction="0.0"/>
    <limit effort="100" lower="0.0" upper="0.785" velocity="100"/>
    <mimic joint="left_qbhand_synergy_joint" multiplier="0.785"/>
  </joint>
  <link name="left_qbhand_ring_proximal_virtual_link">
    <inertial>
      <origin rpy="0 0 0" xyz="0 0 0"/>
      <mass value="1e-4"/>
      <inertia ixx="1e-9" ixy="0.0" ixz="0.0" iyy="1e-9" iyz="0.0" izz="1e-9"/>
    </inertial>
  </link>
  <joint name="left_qbhand_ring_proximal_virtual_joint" type="revolute">
    <origin rpy="0 0 0" xyz="0.013 0 0"/>
    <parent link="left_qbhand_ring_proximal_virtual_link"/>
    <child link="left_qbhand_ring_proximal_link"/>
    <axis xyz="0 0 -1"/>
    <dynamics damping="0.0" friction="0.0"/>
    <limit effort="100" lower="0.0" upper="0.785" velocity="100"/>
    <mimic joint="left_qbhand_ring_proximal_joint" multiplier="1.0"/>
  </joint>
  <link name="left_qbhand_ring_proximal_link">
    <inertial>
      <mass value="0.0082"/>
      <origin rpy="0 0 0" xyz="8.7707437e-03 -1.7863138e-03 0.0"/>
      <inertia ixx="2.2722068e-07" ixy="1.1586053e-08" ixz="0.0" iyy="5.5947233e-07" iyz="0.0" izz="5.9562195e-07"/>
    </inertial>
    <visual>
      <origin rpy="0 0 0" xyz="0 0 0"/>
      <geometry>
        <mesh filename="../meshes/qbhand/ph_medium_yupzfront1.STL" scale="1 1 1"/>
      </geometry>
      <material name="qbhand/proximal">
        <color rgba="0.35 0.35 0.35 1.0"/>
      </material>
    </visual>
    <collision>
      <origin rpy="0 0 0" xyz="0 0 0"/>
      <geometry>
        <mesh filename="../meshes/qbhand/ph_medium_yupzfront1.STL" scale="1 1 1"/>
      </geometry>
    </collision>
  </link>
  <joint name="left_qbhand_ring_middle_joint" type="revolute">
    <origin rpy="0 0 0" xyz="0.017 0 0"/>
    <parent link="left_qbhand_ring_proximal_link"/>
    <child link="left_qbhand_ring_middle_virtual_link"/>
    <axis xyz="0 0 -1"/>
    <dynamics damping="0.0" friction="0.0"/>
    <limit effort="100" lower="0.0" upper="0.785" velocity="100"/>
    <mimic joint="left_qbhand_synergy_joint" multiplier="0.785"/>
  </joint>
  <link name="left_qbhand_ring_middle_virtual_link">
    <inertial>
      <origin rpy="0 0 0" xyz="0 0 0"/>
      <mass value="1e-4"/>
      <inertia ixx="1e-9" ixy="0.0" ixz="0.0" iyy="1e-9" iyz="0.0" izz="1e-9"/>
    </inertial>
  </link>
  <joint name="left_qbhand_ring_middle_virtual_joint" type="revolute">
    <origin rpy="0 0 0" xyz="0.013 0 0"/>
    <parent link="left_qbhand_ring_middle_virtual_link"/>
    <child link="left_qbhand_ring_middle_link"/>
    <axis xyz="0 0 -1"/>
    <dynamics damping="0.0" friction="0.0"/>
    <limit effort="100" lower="0.0" upper="0.785" velocity="100"/>
    <mimic joint="left_qbhand_ring_middle_joint" multiplier="1.0"/>
  </joint>
  <link name="left_qbhand_ring_middle_link">
    <inertial>
      <mass value="0.0063"/>
      <origin rpy="0 0 0" xyz="4.7601567e-03 -1.3786947e-03 0.0"/>
      <inertia ixx="1.8024201e-07" ixy="5.756798e-09" ixz="0.0" iyy="2.3516266e-07" iyz="0.0" izz="2.691504e-07"/>
    </inertial>
    <visual>
      <origin rpy="0 0 0" xyz="0 0 0"/>
      <geometry>
        <mesh filename="../meshes/qbhand/ph_short_yupzfront1.STL" scale="1 1 1"/>
      </geometry>
      <material name="qbhand/middle">
        <color rgba="0.35 0.35 0.35 1.0"/>
      </material>
    </visual>
    <collision>
      <origin rpy="0 0 0" xyz="0 0 0"/>
      <geometry>
        <mesh filename="../meshes/qbhand/ph_short_yupzfront1.STL" scale="1 1 1"/>
      </geometry>
    </collision>
  </link>
  <joint name="left_qbhand_ring_distal_joint" type="revolute">
    <origin rpy="0 0 0" xyz="0.009 0 0"/>
    <parent link="left_qbhand_ring_middle_link"/>
    <child link="left_qbhand_ring_distal_virtual_link"/>
    <axis xyz="0 0 -1"/>
    <dynamics damping="0.0" friction="0.0"/>
    <limit effort="100" lower="0.0" upper="0.785" velocity="100"/>
    <mimic joint="left_qbhand_synergy_joint" multiplier="0.785"/>
  </joint>
  <link name="left_qbhand_ring_distal_virtual_link">
    <inertial>
      <origin rpy="0 0 0" xyz="0 0 0"/>
      <mass value="1e-4"/>
      <inertia ixx="1e-9" ixy="0.0" ixz="0.0" iyy="1e-9" iyz="0.0" izz="1e-9"/>
    </inertial>
  </link>
  <joint name="left_qbhand_ring_distal_virtual_joint" type="revolute">
    <origin rpy="0 0 0" xyz="0.013 0 0"/>
    <parent link="left_qbhand_ring_distal_virtual_link"/>
    <child link="left_qbhand_ring_distal_link"/>
    <axis xyz="0 0 -1"/>
    <dynamics damping="0.0" friction="0.0"/>
    <limit effort="100" lower="0.0" upper="0.785" velocity="100"/>
    <mimic joint="left_qbhand_ring_distal_joint" multiplier="1.0"/>
  </joint>
  <link name="left_qbhand_ring_distal_link">
    <inertial>
      <mass value="0.009"/>
      <origin rpy="0 0 0" xyz="8.8025467e-03 -1.7219289e-03 0.0"/>
      <inertia ixx="2.6586142e-07" ixy="1.2416847e-08" ixz="0.0" iyy="5.9935767e-07" iyz="0.0" izz="6.6781963e-07"/>
    </inertial>
    <visual>
      <origin rpy="0 0 0" xyz="0 0 0"/>
      <geometry>
        <mesh filename="../meshes/qbhand/ph_distal_yupzfront1.STL" scale="1 1 1"/>
      </geometry>
      <material name="qbhand/distal">
        <color rgba="0.35 0.35 0.35 1.0"/>
      </material>
    </visual>
    <collision>
      <origin rpy="0 0 0" xyz="0 0 0"/>
      <geometry>
        <mesh filename="../meshes/qbhand/ph_distal_yupzfront1.STL" scale="1 1 1"/>
      </geometry>
    </collision>
  </link>
  <joint name="left_qbhand_little_knuckle_joint" type="revolute">
    <origin rpy="0 3.14 -1.57" xyz="0.04 -0.012 -0.014"/>
    <parent link="left_qbhand_palm_link"/>
    <child link="left_qbhand_little_knuckle_link"/>
    <axis xyz="0 0 -1"/>
    <dynamics damping="0.0" friction="0.0"/>
    <limit effort="100" lower="-0.524" upper="0.524" velocity="100"/>
    <mimic joint="left_qbhand_synergy_joint" multiplier="-0.4"/>
  </joint>
  <link name="left_qbhand_little_knuckle_link">
    <inertial>
      <mass value="0.0095"/>
      <origin rpy="0 0 0" xyz="4.2753603e-04  0.0 -1.4321738e-03"/>
      <inertia ixx="6.4337303e-07" ixy="0.0" ixz="-3.9373913e-08" iyy="1.1253771e-06" iyz="0.0" izz="7.2336948e-07"/>
    </inertial>
    <visual>
      <origin rpy="0 0 0" xyz="0 0 0"/>
      <geometry>
        <mesh filename="../meshes/qbhand/ph_knuckle_yupzfront1.STL" scale="1 1 1"/>
      </geometry>
      <material name="qbhand/knuckle">
        <color rgba="0.35 0.35 0.35 1.0"/>
      </material>
    </visual>
    <collision>
      <origin rpy="0 0 0" xyz="0 0 0"/>
      <geometry>
        <mesh filename="../meshes/qbhand/ph_knuckle_yupzfront1.STL" scale="1 1 1"/>
      </geometry>
    </collision>
  </link>
  <joint name="left_qbhand_little_proximal_joint" type="revolute">
    <origin rpy="1.57 0 0" xyz="0.009 0 0"/>
    <parent link="left_qbhand_little_knuckle_link"/>
    <child link="left_qbhand_little_proximal_virtual_link"/>
    <axis xyz="0 0 -1"/>
    <dynamics damping="0.0" friction="0.0"/>
    <limit effort="100" lower="0.0" upper="0.785" velocity="100"/>
    <mimic joint="left_qbhand_synergy_joint" multiplier="0.785"/>
  </joint>
  <link name="left_qbhand_little_proximal_virtual_link">
    <inertial>
      <origin rpy="0 0 0" xyz="0 0 0"/>
      <mass value="1e-4"/>
      <inertia ixx="1e-9" ixy="0.0" ixz="0.0" iyy="1e-9" iyz="0.0" izz="1e-9"/>
    </inertial>
  </link>
  <joint name="left_qbhand_little_proximal_virtual_joint" type="revolute">
    <origin rpy="0 0 0" xyz="0.013 0 0"/>
    <parent link="left_qbhand_little_proximal_virtual_link"/>
    <child link="left_qbhand_little_proximal_link"/>
    <axis xyz="0 0 -1"/>
    <dynamics damping="0.0" friction="0.0"/>
    <limit effort="100" lower="0.0" upper="0.785" velocity="100"/>
    <mimic joint="left_qbhand_little_proximal_joint" multiplier="1.0"/>
  </joint>
  <link name="left_qbhand_little_proximal_link">
    <inertial>
      <mass value="0.0063"/>
      <origin rpy="0 0 0" xyz="4.7601567e-03 -1.3786947e-03 0.0"/>
      <inertia ixx="1.8024201e-07" ixy="5.756798e-09" ixz="0.0" iyy="2.3516266e-07" iyz="0.0" izz="2.691504e-07"/>
    </inertial>
    <visual>
      <origin rpy="0 0 0" xyz="0 0 0"/>
      <geometry>
        <mesh filename="../meshes/qbhand/ph_short_yupzfront1.STL" scale="1 1 1"/>
      </geometry>
      <material name="qbhand/proximal">
        <color rgba="0.35 0.35 0.35 1.0"/>
      </material>
    </visual>
    <collision>
      <origin rpy="0 0 0" xyz="0 0 0"/>
      <geometry>
        <mesh filename="../meshes/qbhand/ph_short_yupzfront1.STL" scale="1 1 1"/>
      </geometry>
    </collision>
  </link>
  <joint name="left_qbhand_little_middle_joint" type="revolute">
    <origin rpy="0 0 0" xyz="0.009 0 0"/>
    <parent link="left_qbhand_little_proximal_link"/>
    <child link="left_qbhand_little_middle_virtual_link"/>
    <axis xyz="0 0 -1"/>
    <dynamics damping="0.0" friction="0.0"/>
    <limit effort="100" lower="0.0" upper="0.785" velocity="100"/>
    <mimic joint="left_qbhand_synergy_joint" multiplier="0.785"/>
  </joint>
  <link name="left_qbhand_little_middle_virtual_link">
    <inertial>
      <origin rpy="0 0 0" xyz="0 0 0"/>
      <mass value="1e-4"/>
      <inertia ixx="1e-9" ixy="0.0" ixz="0.0" iyy="1e-9" iyz="0.0" izz="1e-9"/>
    </inertial>
  </link>
  <joint name="left_qbhand_little_middle_virtual_joint" type="revolute">
    <origin rpy="0 0 0" xyz="0.013 0 0"/>
    <parent link="left_qbhand_little_middle_virtual_link"/>
    <child link="left_qbhand_little_middle_link"/>
    <axis xyz="0 0 -1"/>
    <dynamics damping="0.0" friction="0.0"/>
    <limit effort="100" lower="0.0" upper="0.785" velocity="100"/>
    <mimic joint="left_qbhand_little_middle_joint" multiplier="1.0"/>
  </joint>
  <link name="left_qbhand_little_middle_link">
    <inertial>
      <mass value="0.0063"/>
      <origin rpy="0 0 0" xyz="4.7601567e-03 -1.3786947e-03 0.0"/>
      <inertia ixx="1.8024201e-07" ixy="5.756798e-09" ixz="0.0" iyy="2.3516266e-07" iyz="0.0" izz="2.691504e-07"/>
    </inertial>
    <visual>
      <origin rpy="0 0 0" xyz="0 0 0"/>
      <geometry>
        <mesh filename="../meshes/qbhand/ph_short_yupzfront1.STL" scale="1 1 1"/>
      </geometry>
      <material name="qbhand/middle">
        <color rgba="0.35 0.35 0.35 1.0"/>
      </material>
    </visual>
    <collision>
      <origin rpy="0 0 0" xyz="0 0 0"/>
      <geometry>
        <mesh filename="../meshes/qbhand/ph_short_yupzfront1.STL" scale="1 1 1"/>
      </geometry>
    </collision>
  </link>
  <joint name="left_qbhand_little_distal_joint" type="revolute">
    <origin rpy="0 0 0" xyz="0.009 0 0"/>
    <parent link="left_qbhand_little_middle_link"/>
    <child link="left_qbhand_little_distal_virtual_link"/>
    <axis xyz="0 0 -1"/>
    <dynamics damping="0.0" friction="0.0"/>
    <limit effort="100" lower="0.0" upper="0.785" velocity="100"/>
    <mimic joint="left_qbhand_synergy_joint" multiplier="0.785"/>
  </joint>
  <link name="left_qbhand_little_distal_virtual_link">
    <inertial>
      <origin rpy="0 0 0" xyz="0 0 0"/>
      <mass value="1e-4"/>
      <inertia ixx="1e-9" ixy="0.0" ixz="0.0" iyy="1e-9" iyz="0.0" izz="1e-9"/>
    </inertial>
  </link>
  <joint name="left_qbhand_little_distal_virtual_joint" type="revolute">
    <origin rpy="0 0 0" xyz="0.013 0 0"/>
    <parent link="left_qbhand_little_distal_virtual_link"/>
    <child link="left_qbhand_little_distal_link"/>
    <axis xyz="0 0 -1"/>
    <dynamics damping="0.0" friction="0.0"/>
    <limit effort="100" lower="0.0" upper="0.785" velocity="100"/>
    <mimic joint="left_qbhand_little_distal_joint" multiplier="1.0"/>
  </joint>
  <link name="left_qbhand_little_distal_link">
    <inertial>
      <mass value="0.009"/>
      <origin rpy="0 0 0" xyz="8.8025467e-03 -1.7219289e-03 0.0"/>
      <inertia ixx="2.6586142e-07" ixy="1.2416847e-08" ixz="0.0" iyy="5.9935767e-07" iyz="0.0" izz="6.6781963e-07"/>
    </inertial>
    <visual>
      <origin rpy="0 0 0" xyz="0 0 0"/>
      <geometry>
        <mesh filename="../meshes/qbhand/ph_distal_yupzfront1.STL" scale="1 1 1"/>
      </geometry>
      <material name="qbhand/distal">
        <color rgba="0.35 0.35 0.35 1.0"/>
      </material>
    </visual>
    <collision>
      <origin rpy="0 0 0" xyz="0 0 0"/>
      <geometry>
        <mesh filename="../meshes/qbhand/ph_distal_yupzfront1.STL" scale="1 1 1"/>
      </geometry>
    </collision>
  </link>
  <joint name="left_qbhand_end_effector_fixed_joint" type="fixed">
    <origin rpy="-1.57 0 0" xyz="-0.03 0.060 0.142"/>
    <parent link="left_qbhand_base_link"/>
    <child link="left_qbhand_end_effector_link"/>
  </joint>
  <link name="left_qbhand_end_effector_link"/>
  <joint name="panda_right_joint_torso_end" type="fixed">
    <parent link="torso_end"/>
    <child link="panda_right_link0"/>
    <origin rpy="1.3685238493647454 0.913218224774749 0.6168337646727412" xyz="-0.08537 -0.07009 0.2535"/>
  </joint>
  <link name="panda_right_link0">
    <visual>
      <origin rpy="0 0 0" xyz="0 0 0"/>
      <geometry>
        <mesh filename="../meshes/franka/visual/link0.dae"/>
      </geometry>
    </visual>
    <collision>
      <origin rpy="0 0 0" xyz="0 0 0"/>
      <geometry>
        <mesh filename="../meshes/franka/collision/link0.stl"/>
      </geometry>
    </collision>
    <inertial>
      <!-- Estimated guesses from CAD -->
      <origin rpy="0 0 0" xyz="-0.041018 -0.00014 0.049974"/>
      <mass value="0.629769"/>
      <inertia ixx="0.00315" ixy="8.2904E-07" ixz="0.00015" iyy="0.00388" iyz="8.2299E-06" izz="0.004285"/>
    </inertial>
  </link>
  <link name="panda_right_link1">
    <visual>
      <origin rpy="0 0 0" xyz="0 0 0"/>
      <geometry>
        <mesh filename="../meshes/franka/visual/link1.dae"/>
      </geometry>
    </visual>
    <collision>
      <origin rpy="0 0 0" xyz="0 0 0"/>
      <geometry>
        <mesh filename="../meshes/franka/collision/link1.stl"/>
      </geometry>
    </collision>
    <inertial>
      <origin rpy="0 0 0" xyz="0.003875 0.002081 -0.04762"/>
      <mass value="4.970684"/>
      <inertia ixx="0.70337" ixy="-0.00013900" ixz="0.0067720" iyy="0.70661" iyz="0.019169" izz="0.0091170"/>
    </inertial>
  </link>
  <joint name="panda_right_joint1" type="revolute">
    <safety_controller k_position="100.0" k_velocity="40.0" soft_lower_limit="-2.8973" soft_upper_limit="2.8973"/>
    <origin rpy="0 0 0" xyz="0 0 0.333"/>
    <parent link="panda_right_link0"/>
    <child link="panda_right_link1"/>
    <axis xyz="0 0 1"/>
    <limit acceleration="15" effort="87" lower="-2.8973" upper="2.8973" velocity="2.1750"/>
    <dynamics D="1" K="7000" damping="0.003" friction="0.0" mu_coulomb="0" mu_viscous="16"/>
  </joint>
  <link name="panda_right_link2">
    <visual>
      <origin rpy="0 0 0" xyz="0 0 0"/>
      <geometry>
        <mesh filename="../meshes/franka/visual/link2.dae"/>
      </geometry>
    </visual>
    <collision>
      <origin rpy="0 0 0" xyz="0 0 0"/>
      <geometry>
        <mesh filename="../meshes/franka/collision/link2.stl"/>
      </geometry>
    </collision>
    <inertial>
      <origin rpy="0 0 0" xyz=" -0.003141 -0.02872  0.003495"/>
      <mass value="0.646926"/>
      <inertia ixx="0.0079620" ixy="-3.9250e-3" ixz="1.0254e-02" iyy="2.8110e-02" iyz="7.0400e-04" izz="2.5995e-02"/>
    </inertial>
  </link>
  <joint name="panda_right_joint2" type="revolute">
    <safety_controller k_position="100.0" k_velocity="40.0" soft_lower_limit="-1.7628" soft_upper_limit="1.7628"/>
    <origin rpy="-1.5707963267948966 0 0" xyz="0 0 0"/>
    <parent link="panda_right_link1"/>
    <child link="panda_right_link2"/>
    <axis xyz="0 0 1"/>
    <limit acceleration="7.5" effort="87" lower="-1.7628" upper="1.7628" velocity="2.1750"/>
    <dynamics D="1" K="7000" damping="0.003" friction="0.0" mu_coulomb="0" mu_viscous="16"/>
  </joint>
  <link name="panda_right_link3">
    <visual>
      <origin rpy="0 0 0" xyz="0 0 0"/>
      <geometry>
        <mesh filename="../meshes/franka/visual/link3.dae"/>
      </geometry>
    </visual>
    <collision>
      <origin rpy="0 0 0" xyz="0 0 0"/>
      <geometry>
        <mesh filename="../meshes/franka/collision/link3.stl"/>
      </geometry>
    </collision>
    <inertial>
      <origin rpy="0 0 0" xyz="2.7518e-02 3.9252e-02 -6.6502e-02"/>
      <mass value="3.228604"/>
      <inertia ixx="3.7242e-02" ixy="-4.7610e-03" ixz="-1.1396e-02" iyy="3.6155e-02" iyz="-1.2805e-02" izz="1.0830e-02"/>
    </inertial>
  </link>
  <joint name="panda_right_joint3" type="revolute">
    <safety_controller k_position="100.0" k_velocity="40.0" soft_lower_limit="-2.8973" soft_upper_limit="2.8973"/>
    <origin rpy="1.5707963267948966 0 0" xyz="0 -0.316 0"/>
    <parent link="panda_right_link2"/>
    <child link="panda_right_link3"/>
    <axis xyz="0 0 1"/>
    <limit acceleration="12.5" effort="87" lower="-2.8973" upper="2.8973" velocity="2.1750"/>
    <dynamics D="1" K="7000" damping="0.003" friction="0.0" mu_coulomb="0" mu_viscous="16"/>
  </joint>
  <link name="panda_right_link4">
    <visual>
      <origin rpy="0 0 0" xyz="0 0 0"/>
      <geometry>
        <mesh filename="../meshes/franka/visual/link4.dae"/>
      </geometry>
    </visual>
    <collision>
      <origin rpy="0 0 0" xyz="0 0 0"/>
      <geometry>
        <mesh filename="../meshes/franka/collision/link4.stl"/>
      </geometry>
    </collision>
    <inertial>
      <origin rpy="0 0 0" xyz="-5.317e-02 1.04419e-01 2.7454e-02"/>
      <mass value="3.587895"/>
      <inertia ixx="2.5853e-02" ixy="7.7960e-03" ixz="-1.3320e-03" iyy="1.9552e-02" iyz="8.6410e-03" izz="2.8323e-02"/>
    </inertial>
  </link>
  <joint name="panda_right_joint4" type="revolute">
    <safety_controller k_position="100.0" k_velocity="40.0" soft_lower_limit="-3.0718" soft_upper_limit="-0.0698"/>
    <origin rpy="1.5707963267948966 0 0" xyz="0.0825 0 0"/>
    <parent link="panda_right_link3"/>
    <child link="panda_right_link4"/>
    <axis xyz="0 0 1"/>
    <limit acceleration="12.5" effort="87" lower="-3.0718" upper="-0.0698" velocity="2.1750"/>
    <dynamics D="1" K="7000" damping="0.003" friction="0.0" mu_coulomb="0" mu_viscous="16"/>
  </joint>
  <link name="panda_right_link5">
    <visual>
      <origin rpy="0 0 0" xyz="0 0 0"/>
      <geometry>
        <mesh filename="../meshes/franka/visual/link5.dae"/>
      </geometry>
    </visual>
    <collision>
      <origin rpy="0 0 0" xyz="0 0 0"/>
      <geometry>
        <mesh filename="../meshes/franka/collision/link5.stl"/>
      </geometry>
    </collision>
    <inertial>
      <origin rpy="0 0 0" xyz="-1.1953e-02 4.1065e-02 -3.8437e-02"/>
      <mass value="1.225946"/>
      <inertia ixx="3.5549e-02" ixy="-2.1170e-03" ixz="-4.0370e-03" iyy="2.9474e-02" iyz="2.2900e-04" izz="8.6270e-03"/>
    </inertial>
  </link>
  <joint name="panda_right_joint5" type="revolute">
    <safety_controller k_position="100.0" k_velocity="40.0" soft_lower_limit="-2.8973" soft_upper_limit="2.8973"/>
    <origin rpy="-1.5707963267948966 0 0" xyz="-0.0825 0.384 0"/>
    <parent link="panda_right_link4"/>
    <child link="panda_right_link5"/>
    <axis xyz="0 0 1"/>
    <limit acceleration="15" effort="12" lower="-2.8973" upper="2.8973" velocity="2.6100"/>
    <dynamics D="1" K="7000" damping="0.003" friction="0.0" mu_coulomb="0" mu_viscous="16"/>
  </joint>
  <link name="panda_right_link6">
    <visual>
      <origin rpy="0 0 0" xyz="0 0 0"/>
      <geometry>
        <mesh filename="../meshes/franka/visual/link6.dae"/>
      </geometry>
    </visual>
    <collision>
      <origin rpy="0 0 0" xyz="0 0 0"/>
      <geometry>
        <mesh filename="../meshes/franka/collision/link6.stl"/>
      </geometry>
    </collision>
    <inertial>
      <origin rpy="0 0 0" xyz="6.0149e-02 -1.4117e-02 -1.0517e-02"/>
      <mass value="1.666555"/>
      <inertia ixx="1.9640e-03" ixy="1.0900e-04" ixz="-1.1580e-03" iyy="4.3540e-03" iyz="3.4100e-04" izz="5.4330e-03"/>
    </inertial>
  </link>
  <joint name="panda_right_joint6" type="revolute">
    <safety_controller k_position="100.0" k_velocity="40.0" soft_lower_limit="-0.0175" soft_upper_limit="3.7525"/>
    <origin rpy="1.5707963267948966 0 0" xyz="0 0 0"/>
    <parent link="panda_right_link5"/>
    <child link="panda_right_link6"/>
    <axis xyz="0 0 1"/>
    <limit acceleration="20" effort="12" lower="-0.0175" upper="3.7525" velocity="2.6100"/>
    <dynamics D="1" K="7000" damping="0.003" friction="0.0" mu_coulomb="0" mu_viscous="16"/>
  </joint>
  <link name="panda_right_link7">
    <visual>
      <origin rpy="0 0 0" xyz="0 0 0"/>
      <geometry>
        <mesh filename="../meshes/franka/visual/link7.dae"/>
      </geometry>
    </visual>
    <collision>
      <origin rpy="0 0 0" xyz="0 0 0"/>
      <geometry>
        <mesh filename="../meshes/franka/collision/link7.stl"/>
      </geometry>
    </collision>
    <inertial>
      <origin rpy="0 0 0" xyz="1.0517e-02 -4.252e-03 6.1597e-02"/>
      <mass value="7.35522e-01"/>
      <inertia ixx="1.2516e-02" ixy="-4.2800e-04" ixz="-1.1960e-03" iyy="1.0027e-02" iyz="-7.4100e-04" izz="4.8150e-03"/>
    </inertial>
  </link>
  <joint name="panda_right_joint7" type="revolute">
    <safety_controller k_position="100.0" k_velocity="40.0" soft_lower_limit="-2.8973" soft_upper_limit="2.8973"/>
    <origin rpy="1.5707963267948966 0 0" xyz="0.088 0 0"/>
    <parent link="panda_right_link6"/>
    <child link="panda_right_link7"/>
    <axis xyz="0 0 1"/>
    <limit acceleration="20" effort="12" lower="-2.8973" upper="2.8973" velocity="2.6100"/>
    <dynamics D="1" K="7000" damping="0.003" friction="0.0" mu_coulomb="0" mu_viscous="16"/>
  </joint>
  <joint name="panda_right_end_effector_joint" type="fixed">
    <parent link="panda_right_link7"/>
    <child link="right_hand_root_link"/>
    <origin rpy="0 0 -0.7853981633974483" xyz="0 0 0.107"/>
  </joint>
  <link name="right_hand_root_link"/>
  <joint name="right_qbhand_base_fixed_joint" type="fixed">
    <origin rpy="0 0 0" xyz="0 0 0"/>
    <parent link="right_hand_root_link"/>
    <child link="right_qbhand_base_link"/>
  </joint>
  <link name="right_qbhand_base_link">
    <inertial>
      <mass value="0.45"/>
      <origin rpy="0 0 0" xyz="0.0030 -0.0449 0.0135"/>
      <inertia ixx="0.00045" ixy="0.0" ixz="0.0" iyy="0.0006" iyz="0.0" izz="0.00025"/>
    </inertial>
    <visual>
      <origin rpy="0 0 0" xyz="0 0 0"/>
      <geometry>
        <mesh filename="../meshes/qbhand/flange_iso_04_yupzfront.STL" scale="1 1 1"/>
      </geometry>
      <material name="qbhand/base"/>
    </visual>
    <collision>
      <origin rpy="0 0 0" xyz="0 0 0"/>
      <geometry>
        <mesh filename="../meshes/qbhand/flange_iso_04_yupzfront.STL" scale="1 1 1"/>
      </geometry>
    </collision>
  </link>
  <joint name="right_qbhand_palm_fixed_joint" type="fixed">
    <origin rpy="1.57 0 0" xyz="-0.0045 0.0145 0.144"/>
    <parent link="right_qbhand_base_link"/>
    <child link="right_qbhand_palm_link"/>
  </joint>
  <link name="right_qbhand_palm_link">
    <inertial>
      <mass value="0.45"/>
      <origin rpy="0 0 0" xyz="0.0030 -0.0449 0.0135"/>
      <inertia ixx="0.00045" ixy="0.0" ixz="0.0" iyy="0.0006" iyz="0.0" izz="0.00025"/>
    </inertial>
    <visual>
      <origin rpy="0 0 0" xyz="0 0 0"/>
      <geometry>
        <mesh filename="../meshes/qbhand/palm_pinch_r_yupzfront2.STL" scale="1 1 1"/>
      </geometry>
      <material name="qbhand/palm"/>
    </visual>
    <collision>
      <origin rpy="0 0 0" xyz="0 0 0"/>
      <geometry>
        <mesh filename="../meshes/qbhand/palm_pinch_r.stl" scale="0.001 0.001 0.001"/>
      </geometry>
    </collision>
  </link>
  <joint name="right_qbhand_synergy_joint" type="revolute">
    <origin rpy="0 0 0" xyz="0 0 0"/>
    <parent link="right_qbhand_palm_link"/>
    <child link="right_qbhand_synergy_tendon_virtual_link"/>
    <axis xyz="0 0 1"/>
    <dynamics damping="0.0" friction="0.0"/>
    <limit effort="100" lower="0.0" upper="1.0" velocity="100"/>
  </joint>
  <transmission name="right_qbhand_synergy_transmission">
    <type>transmission_interface/qbMoveTransmission</type>
    <joint name="right_qbhand_synergy_joint">
      <hardwareInterface>hardware_interface/EffortJointInterface</hardwareInterface>
    </joint>
    <actuator name="right_qbhand_synergy_joint">
      <hardwareInterface>hardware_interface/EffortJointInterface</hardwareInterface>
    </actuator>
  </transmission>
  <link name="right_qbhand_synergy_tendon_virtual_link">
    <inertial>
      <origin rpy="0 0 0" xyz="0 0 0"/>
      <mass value="1e-4"/>
      <inertia ixx="1e-9" ixy="0.0" ixz="0.0" iyy="1e-9" iyz="0.0" izz="1e-9"/>
    </inertial>
  </link>
  <joint name="right_qbhand_thumb_knuckle_joint" type="revolute">
    <origin rpy="-1.57 3.14 0.0" xyz="-0.044 -0.0465 -0.002"/>
    <parent link="right_qbhand_palm_link"/>
    <child link="right_qbhand_thumb_knuckle_link"/>
    <axis xyz="0 0 -1"/>
    <dynamics damping="0.0" friction="0.0"/>
    <limit effort="100" lower="0.0" upper="1.571" velocity="100"/>
    <mimic joint="right_qbhand_synergy_joint" multiplier="2.542"/>
  </joint>
  <link name="right_qbhand_thumb_knuckle_link">
    <inertial>
      <mass value="0.01"/>
      <origin rpy="0 0 0" xyz="1.3071561e-02 -2.7357764e-03 6.4347823e-04"/>
      <inertia ixx="3.5865978e-07" ixy="2.0944224e-07" ixz="-6.8657569e-08" iyy="1.3885564e-06" iyz="3.2170608e-08" izz="1.3571203e-06"/>
    </inertial>
    <visual>
      <origin rpy="0 0 0" xyz="0 0 0"/>
      <geometry>
        <mesh filename="../meshes/qbhand/ph_thumb_r_yupzfront1.STL" scale="1 1 1"/>
      </geometry>
      <material name="qbhand/knuckle"/>
    </visual>
    <collision>
      <origin rpy="0 0 0" xyz="0 0 0"/>
      <geometry>
        <mesh filename="../meshes/qbhand/ph_thumb_r_yupzfront1.STL" scale="1 1 1"/>
      </geometry>
    </collision>
  </link>
  <joint name="right_qbhand_thumb_proximal_joint" type="revolute">
    <origin rpy="-1.1415 0.0 0.0" xyz="0.0255 -0.0038 -0.00012"/>
    <parent link="right_qbhand_thumb_knuckle_link"/>
    <child link="right_qbhand_thumb_proximal_virtual_link"/>
    <axis xyz="0 0 -1"/>
    <dynamics damping="0.0" friction="0.0"/>
    <limit effort="100" lower="0.0" upper="0.785" velocity="100"/>
    <mimic joint="right_qbhand_synergy_joint" multiplier="0.785"/>
  </joint>
  <link name="right_qbhand_thumb_proximal_virtual_link">
    <inertial>
      <origin rpy="0 0 0" xyz="0 0 0"/>
      <mass value="1e-4"/>
      <inertia ixx="1e-9" ixy="0.0" ixz="0.0" iyy="1e-9" iyz="0.0" izz="1e-9"/>
    </inertial>
  </link>
  <joint name="right_qbhand_thumb_proximal_virtual_joint" type="revolute">
    <origin rpy="0 0 0" xyz="0.013 0 0"/>
    <parent link="right_qbhand_thumb_proximal_virtual_link"/>
    <child link="right_qbhand_thumb_proximal_link"/>
    <axis xyz="0 0 -1"/>
    <dynamics damping="0.0" friction="0.0"/>
    <limit effort="100" lower="0.0" upper="0.785" velocity="100"/>
    <mimic joint="right_qbhand_thumb_proximal_joint" multiplier="1.0"/>
  </joint>
  <link name="right_qbhand_thumb_proximal_link">
    <inertial>
      <mass value="0.0063"/>
      <origin rpy="0 0 0" xyz="4.7601567e-03 -1.3786947e-03 0.0"/>
      <inertia ixx="1.8024201e-07" ixy="5.756798e-09" ixz="0.0" iyy="2.3516266e-07" iyz="0.0" izz="2.691504e-07"/>
    </inertial>
    <visual>
      <origin rpy="0 0 0" xyz="0 0 0"/>
      <geometry>
        <mesh filename="../meshes/qbhand/ph_short_yupzfront1.STL" scale="1 1 1"/>
      </geometry>
      <material name="qbhand/proximal"/>
    </visual>
    <collision>
      <origin rpy="0 0 0" xyz="0 0 0"/>
      <geometry>
        <mesh filename="../meshes/qbhand/ph_short_yupzfront1.STL" scale="1 1 1"/>
      </geometry>
    </collision>
  </link>
  <joint name="right_qbhand_thumb_distal_joint" type="revolute">
    <origin rpy="0 0 0" xyz="0.009 0 0"/>
    <parent link="right_qbhand_thumb_proximal_link"/>
    <child link="right_qbhand_thumb_distal_virtual_link"/>
    <axis xyz="0 0 -1"/>
    <dynamics damping="0.0" friction="0.0"/>
    <limit effort="100" lower="0.0" upper="0.785" velocity="100"/>
    <mimic joint="right_qbhand_synergy_joint" multiplier="0.785"/>
  </joint>
  <link name="right_qbhand_thumb_distal_virtual_link">
    <inertial>
      <origin rpy="0 0 0" xyz="0 0 0"/>
      <mass value="1e-4"/>
      <inertia ixx="1e-9" ixy="0.0" ixz="0.0" iyy="1e-9" iyz="0.0" izz="1e-9"/>
    </inertial>
  </link>
  <joint name="right_qbhand_thumb_distal_virtual_joint" type="revolute">
    <origin rpy="0 0 0" xyz="0.013 0 0"/>
    <parent link="right_qbhand_thumb_distal_virtual_link"/>
    <child link="right_qbhand_thumb_distal_link"/>
    <axis xyz="0 0 -1"/>
    <dynamics damping="0.0" friction="0.0"/>
    <limit effort="100" lower="0.0" upper="0.785" velocity="100"/>
    <mimic joint="right_qbhand_thumb_distal_joint" multiplier="1.0"/>
  </joint>
  <link name="right_qbhand_thumb_distal_link">
    <inertial>
      <mass value="0.009"/>
      <origin rpy="0 0 0" xyz="8.8025467e-03 -1.7219289e-03 0.0"/>
      <inertia ixx="2.6586142e-07" ixy="1.2416847e-08" ixz="0.0" iyy="5.9935767e-07" iyz="0.0" izz="6.6781963e-07"/>
    </inertial>
    <visual>
      <origin rpy="0 0 0" xyz="0 0 0"/>
      <geometry>
        <mesh filename="../meshes/qbhand/ph_distal_yupzfront1.STL" scale="1 1 1"/>
      </geometry>
      <material name="qbhand/distal"/>
    </visual>
    <collision>
      <origin rpy="0 0 0" xyz="0 0 0"/>
      <geometry>
        <mesh filename="../meshes/qbhand/ph_distal_yupzfront1.STL" scale="1 1 1"/>
      </geometry>
    </collision>
  </link>
  <joint name="right_qbhand_index_knuckle_joint" type="revolute">
    <origin rpy="0 0 1.57" xyz="-0.02 -0.007 0.014"/>
    <parent link="right_qbhand_palm_link"/>
    <child link="right_qbhand_index_knuckle_link"/>
    <axis xyz="0 0 -1"/>
    <dynamics damping="0.0" friction="0.0"/>
    <limit effort="100" lower="-0.524" upper="0.524" velocity="100"/>
    <mimic joint="right_qbhand_synergy_joint" multiplier="-0.2"/>
  </joint>
  <link name="right_qbhand_index_knuckle_link">
    <inertial>
      <mass value="0.0095"/>
      <origin rpy="0 0 0" xyz="4.2753603e-04  0.0 -1.4321738e-03"/>
      <inertia ixx="6.4337303e-07" ixy="0.0" ixz="-3.9373913e-08" iyy="1.1253771e-06" iyz="0.0" izz="7.2336948e-07"/>
    </inertial>
    <visual>
      <origin rpy="0 0 0" xyz="0 0 0"/>
      <geometry>
        <mesh filename="../meshes/qbhand/ph_knuckle_yupzfront1.STL" scale="1 1 1"/>
      </geometry>
      <material name="qbhand/knuckle"/>
    </visual>
    <collision>
      <origin rpy="0 0 0" xyz="0 0 0"/>
      <geometry>
        <mesh filename="../meshes/qbhand/ph_knuckle_yupzfront1.STL" scale="1 1 1"/>
      </geometry>
    </collision>
  </link>
  <joint name="right_qbhand_index_proximal_joint" type="revolute">
    <origin rpy="1.57 0 0" xyz="0.009 0 0"/>
    <parent link="right_qbhand_index_knuckle_link"/>
    <child link="right_qbhand_index_proximal_virtual_link"/>
    <axis xyz="0 0 -1"/>
    <dynamics damping="0.0" friction="0.0"/>
    <limit effort="100" lower="0.0" upper="0.785" velocity="100"/>
    <mimic joint="right_qbhand_synergy_joint" multiplier="0.785"/>
  </joint>
  <link name="right_qbhand_index_proximal_virtual_link">
    <inertial>
      <origin rpy="0 0 0" xyz="0 0 0"/>
      <mass value="1e-4"/>
      <inertia ixx="1e-9" ixy="0.0" ixz="0.0" iyy="1e-9" iyz="0.0" izz="1e-9"/>
    </inertial>
  </link>
  <joint name="right_qbhand_index_proximal_virtual_joint" type="revolute">
    <origin rpy="0 0 0" xyz="0.013 0 0"/>
    <parent link="right_qbhand_index_proximal_virtual_link"/>
    <child link="right_qbhand_index_proximal_link"/>
    <axis xyz="0 0 -1"/>
    <dynamics damping="0.0" friction="0.0"/>
    <limit effort="100" lower="0.0" upper="0.785" velocity="100"/>
    <mimic joint="right_qbhand_index_proximal_joint" multiplier="1.0"/>
  </joint>
  <link name="right_qbhand_index_proximal_link">
    <inertial>
      <mass value="0.0082"/>
      <origin rpy="0 0 0" xyz="8.7707437e-03 -1.7863138e-03 0.0"/>
      <inertia ixx="2.2722068e-07" ixy="1.1586053e-08" ixz="0.0" iyy="5.5947233e-07" iyz="0.0" izz="5.9562195e-07"/>
    </inertial>
    <visual>
      <origin rpy="0 0 0" xyz="0 0 0"/>
      <geometry>
        <mesh filename="../meshes/qbhand/ph_medium_yupzfront1.STL" scale="1 1 1"/>
      </geometry>
      <material name="qbhand/proximal"/>
    </visual>
    <collision>
      <origin rpy="0 0 0" xyz="0 0 0"/>
      <geometry>
        <mesh filename="../meshes/qbhand/ph_medium_yupzfront1.STL" scale="1 1 1"/>
      </geometry>
    </collision>
  </link>
  <joint name="right_qbhand_index_middle_joint" type="revolute">
    <origin rpy="0 0 0" xyz="0.017 0 0"/>
    <parent link="right_qbhand_index_proximal_link"/>
    <child link="right_qbhand_index_middle_virtual_link"/>
    <axis xyz="0 0 -1"/>
    <dynamics damping="0.0" friction="0.0"/>
    <limit effort="100" lower="0.0" upper="0.785" velocity="100"/>
    <mimic joint="right_qbhand_synergy_joint" multiplier="0.785"/>
  </joint>
  <link name="right_qbhand_index_middle_virtual_link">
    <inertial>
      <origin rpy="0 0 0" xyz="0 0 0"/>
      <mass value="1e-4"/>
      <inertia ixx="1e-9" ixy="0.0" ixz="0.0" iyy="1e-9" iyz="0.0" izz="1e-9"/>
    </inertial>
  </link>
  <joint name="right_qbhand_index_middle_virtual_joint" type="revolute">
    <origin rpy="0 0 0" xyz="0.013 0 0"/>
    <parent link="right_qbhand_index_middle_virtual_link"/>
    <child link="right_qbhand_index_middle_link"/>
    <axis xyz="0 0 -1"/>
    <dynamics damping="0.0" friction="0.0"/>
    <limit effort="100" lower="0.0" upper="0.785" velocity="100"/>
    <mimic joint="right_qbhand_index_middle_joint" multiplier="1.0"/>
  </joint>
  <link name="right_qbhand_index_middle_link">
    <inertial>
      <mass value="0.0063"/>
      <origin rpy="0 0 0" xyz="4.7601567e-03 -1.3786947e-03 0.0"/>
      <inertia ixx="1.8024201e-07" ixy="5.756798e-09" ixz="0.0" iyy="2.3516266e-07" iyz="0.0" izz="2.691504e-07"/>
    </inertial>
    <visual>
      <origin rpy="0 0 0" xyz="0 0 0"/>
      <geometry>
        <mesh filename="../meshes/qbhand/ph_short_yupzfront1.STL" scale="1 1 1"/>
      </geometry>
      <material name="qbhand/middle"/>
    </visual>
    <collision>
      <origin rpy="0 0 0" xyz="0 0 0"/>
      <geometry>
        <mesh filename="../meshes/qbhand/ph_short_yupzfront1.STL" scale="1 1 1"/>
      </geometry>
    </collision>
  </link>
  <joint name="right_qbhand_index_distal_joint" type="revolute">
    <origin rpy="0 0 0" xyz="0.009 0 0"/>
    <parent link="right_qbhand_index_middle_link"/>
    <child link="right_qbhand_index_distal_virtual_link"/>
    <axis xyz="0 0 -1"/>
    <dynamics damping="0.0" friction="0.0"/>
    <limit effort="100" lower="0.0" upper="0.785" velocity="100"/>
    <mimic joint="right_qbhand_synergy_joint" multiplier="0.785"/>
  </joint>
  <link name="right_qbhand_index_distal_virtual_link">
    <inertial>
      <origin rpy="0 0 0" xyz="0 0 0"/>
      <mass value="1e-4"/>
      <inertia ixx="1e-9" ixy="0.0" ixz="0.0" iyy="1e-9" iyz="0.0" izz="1e-9"/>
    </inertial>
  </link>
  <joint name="right_qbhand_index_distal_virtual_joint" type="revolute">
    <origin rpy="0 0 0" xyz="0.013 0 0"/>
    <parent link="right_qbhand_index_distal_virtual_link"/>
    <child link="right_qbhand_index_distal_link"/>
    <axis xyz="0 0 -1"/>
    <dynamics damping="0.0" friction="0.0"/>
    <limit effort="100" lower="0.0" upper="0.785" velocity="100"/>
    <mimic joint="right_qbhand_index_distal_joint" multiplier="1.0"/>
  </joint>
  <link name="right_qbhand_index_distal_link">
    <inertial>
      <mass value="0.009"/>
      <origin rpy="0 0 0" xyz="8.8025467e-03 -1.7219289e-03 0.0"/>
      <inertia ixx="2.6586142e-07" ixy="1.2416847e-08" ixz="0.0" iyy="5.9935767e-07" iyz="0.0" izz="6.6781963e-07"/>
    </inertial>
    <visual>
      <origin rpy="0 0 0" xyz="0 0 0"/>
      <geometry>
        <mesh filename="../meshes/qbhand/ph_distal_yupzfront1.STL" scale="1 1 1"/>
      </geometry>
      <material name="qbhand/distal"/>
    </visual>
    <collision>
      <origin rpy="0 0 0" xyz="0 0 0"/>
      <geometry>
        <mesh filename="../meshes/qbhand/ph_distal_yupzfront1.STL" scale="1 1 1"/>
      </geometry>
    </collision>
  </link>
  <joint name="right_qbhand_middle_knuckle_joint" type="revolute">
    <origin rpy="0 0 1.57" xyz="0 0 0.014"/>
    <parent link="right_qbhand_palm_link"/>
    <child link="right_qbhand_middle_knuckle_link"/>
    <axis xyz="0 0 -1"/>
    <dynamics damping="0.0" friction="0.0"/>
    <limit effort="100" lower="-0.524" upper="0.524" velocity="100"/>
    <mimic joint="right_qbhand_synergy_joint" multiplier="0.0"/>
  </joint>
  <link name="right_qbhand_middle_knuckle_link">
    <inertial>
      <mass value="0.0095"/>
      <origin rpy="0 0 0" xyz="4.2753603e-04  0.0 -1.4321738e-03"/>
      <inertia ixx="6.4337303e-07" ixy="0.0" ixz="-3.9373913e-08" iyy="1.1253771e-06" iyz="0.0" izz="7.2336948e-07"/>
    </inertial>
    <visual>
      <origin rpy="0 0 0" xyz="0 0 0"/>
      <geometry>
        <mesh filename="../meshes/qbhand/ph_knuckle_yupzfront1.STL" scale="1 1 1"/>
      </geometry>
      <material name="qbhand/knuckle"/>
    </visual>
    <collision>
      <origin rpy="0 0 0" xyz="0 0 0"/>
      <geometry>
        <mesh filename="../meshes/qbhand/ph_knuckle_yupzfront1.STL" scale="1 1 1"/>
      </geometry>
    </collision>
  </link>
  <joint name="right_qbhand_middle_proximal_joint" type="revolute">
    <origin rpy="1.57 0 0" xyz="0.009 0 0"/>
    <parent link="right_qbhand_middle_knuckle_link"/>
    <child link="right_qbhand_middle_proximal_virtual_link"/>
    <axis xyz="0 0 -1"/>
    <dynamics damping="0.0" friction="0.0"/>
    <limit effort="100" lower="0.0" upper="0.785" velocity="100"/>
    <mimic joint="right_qbhand_synergy_joint" multiplier="0.785"/>
  </joint>
  <link name="right_qbhand_middle_proximal_virtual_link">
    <inertial>
      <origin rpy="0 0 0" xyz="0 0 0"/>
      <mass value="1e-4"/>
      <inertia ixx="1e-9" ixy="0.0" ixz="0.0" iyy="1e-9" iyz="0.0" izz="1e-9"/>
    </inertial>
  </link>
  <joint name="right_qbhand_middle_proximal_virtual_joint" type="revolute">
    <origin rpy="0 0 0" xyz="0.013 0 0"/>
    <parent link="right_qbhand_middle_proximal_virtual_link"/>
    <child link="right_qbhand_middle_proximal_link"/>
    <axis xyz="0 0 -1"/>
    <dynamics damping="0.0" friction="0.0"/>
    <limit effort="100" lower="0.0" upper="0.785" velocity="100"/>
    <mimic joint="right_qbhand_middle_proximal_joint" multiplier="1.0"/>
  </joint>
  <link name="right_qbhand_middle_proximal_link">
    <inertial>
      <mass value="0.0082"/>
      <origin rpy="0 0 0" xyz="8.7707437e-03 -1.7863138e-03 0.0"/>
      <inertia ixx="2.2722068e-07" ixy="1.1586053e-08" ixz="0.0" iyy="5.5947233e-07" iyz="0.0" izz="5.9562195e-07"/>
    </inertial>
    <visual>
      <origin rpy="0 0 0" xyz="0 0 0"/>
      <geometry>
        <mesh filename="../meshes/qbhand/ph_medium_yupzfront1.STL" scale="1 1 1"/>
      </geometry>
      <material name="qbhand/proximal"/>
    </visual>
    <collision>
      <origin rpy="0 0 0" xyz="0 0 0"/>
      <geometry>
        <mesh filename="../meshes/qbhand/ph_medium_yupzfront1.STL" scale="1 1 1"/>
      </geometry>
    </collision>
  </link>
  <joint name="right_qbhand_middle_middle_joint" type="revolute">
    <origin rpy="0 0 0" xyz="0.017 0 0"/>
    <parent link="right_qbhand_middle_proximal_link"/>
    <child link="right_qbhand_middle_middle_virtual_link"/>
    <axis xyz="0 0 -1"/>
    <dynamics damping="0.0" friction="0.0"/>
    <limit effort="100" lower="0.0" upper="0.785" velocity="100"/>
    <mimic joint="right_qbhand_synergy_joint" multiplier="0.785"/>
  </joint>
  <link name="right_qbhand_middle_middle_virtual_link">
    <inertial>
      <origin rpy="0 0 0" xyz="0 0 0"/>
      <mass value="1e-4"/>
      <inertia ixx="1e-9" ixy="0.0" ixz="0.0" iyy="1e-9" iyz="0.0" izz="1e-9"/>
    </inertial>
  </link>
  <joint name="right_qbhand_middle_middle_virtual_joint" type="revolute">
    <origin rpy="0 0 0" xyz="0.013 0 0"/>
    <parent link="right_qbhand_middle_middle_virtual_link"/>
    <child link="right_qbhand_middle_middle_link"/>
    <axis xyz="0 0 -1"/>
    <dynamics damping="0.0" friction="0.0"/>
    <limit effort="100" lower="0.0" upper="0.785" velocity="100"/>
    <mimic joint="right_qbhand_middle_middle_joint" multiplier="1.0"/>
  </joint>
  <link name="right_qbhand_middle_middle_link">
    <inertial>
      <mass value="0.0063"/>
      <origin rpy="0 0 0" xyz="4.7601567e-03 -1.3786947e-03 0.0"/>
      <inertia ixx="1.8024201e-07" ixy="5.756798e-09" ixz="0.0" iyy="2.3516266e-07" iyz="0.0" izz="2.691504e-07"/>
    </inertial>
    <visual>
      <origin rpy="0 0 0" xyz="0 0 0"/>
      <geometry>
        <mesh filename="../meshes/qbhand/ph_short_yupzfront1.STL" scale="1 1 1"/>
      </geometry>
      <material name="qbhand/middle"/>
    </visual>
    <collision>
      <origin rpy="0 0 0" xyz="0 0 0"/>
      <geometry>
        <mesh filename="../meshes/qbhand/ph_short_yupzfront1.STL" scale="1 1 1"/>
      </geometry>
    </collision>
  </link>
  <joint name="right_qbhand_middle_distal_joint" type="revolute">
    <origin rpy="0 0 0" xyz="0.009 0 0"/>
    <parent link="right_qbhand_middle_middle_link"/>
    <child link="right_qbhand_middle_distal_virtual_link"/>
    <axis xyz="0 0 -1"/>
    <dynamics damping="0.0" friction="0.0"/>
    <limit effort="100" lower="0.0" upper="0.785" velocity="100"/>
    <mimic joint="right_qbhand_synergy_joint" multiplier="0.785"/>
  </joint>
  <link name="right_qbhand_middle_distal_virtual_link">
    <inertial>
      <origin rpy="0 0 0" xyz="0 0 0"/>
      <mass value="1e-4"/>
      <inertia ixx="1e-9" ixy="0.0" ixz="0.0" iyy="1e-9" iyz="0.0" izz="1e-9"/>
    </inertial>
  </link>
  <joint name="right_qbhand_middle_distal_virtual_joint" type="revolute">
    <origin rpy="0 0 0" xyz="0.013 0 0"/>
    <parent link="right_qbhand_middle_distal_virtual_link"/>
    <child link="right_qbhand_middle_distal_link"/>
    <axis xyz="0 0 -1"/>
    <dynamics damping="0.0" friction="0.0"/>
    <limit effort="100" lower="0.0" upper="0.785" velocity="100"/>
    <mimic joint="right_qbhand_middle_distal_joint" multiplier="1.0"/>
  </joint>
  <link name="right_qbhand_middle_distal_link">
    <inertial>
      <mass value="0.009"/>
      <origin rpy="0 0 0" xyz="8.8025467e-03 -1.7219289e-03 0.0"/>
      <inertia ixx="2.6586142e-07" ixy="1.2416847e-08" ixz="0.0" iyy="5.9935767e-07" iyz="0.0" izz="6.6781963e-07"/>
    </inertial>
    <visual>
      <origin rpy="0 0 0" xyz="0 0 0"/>
      <geometry>
        <mesh filename="../meshes/qbhand/ph_distal_yupzfront1.STL" scale="1 1 1"/>
      </geometry>
      <material name="qbhand/distal"/>
    </visual>
    <collision>
      <origin rpy="0 0 0" xyz="0 0 0"/>
      <geometry>
        <mesh filename="../meshes/qbhand/ph_distal_yupzfront1.STL" scale="1 1 1"/>
      </geometry>
    </collision>
  </link>
  <joint name="right_qbhand_ring_knuckle_joint" type="revolute">
    <origin rpy="0 0 1.57" xyz="0.02 -0.007 0.014"/>
    <parent link="right_qbhand_palm_link"/>
    <child link="right_qbhand_ring_knuckle_link"/>
    <axis xyz="0 0 -1"/>
    <dynamics damping="0.0" friction="0.0"/>
    <limit effort="100" lower="-0.524" upper="0.524" velocity="100"/>
    <mimic joint="right_qbhand_synergy_joint" multiplier="0.2"/>
  </joint>
  <link name="right_qbhand_ring_knuckle_link">
    <inertial>
      <mass value="0.0095"/>
      <origin rpy="0 0 0" xyz="4.2753603e-04  0.0 -1.4321738e-03"/>
      <inertia ixx="6.4337303e-07" ixy="0.0" ixz="-3.9373913e-08" iyy="1.1253771e-06" iyz="0.0" izz="7.2336948e-07"/>
    </inertial>
    <visual>
      <origin rpy="0 0 0" xyz="0 0 0"/>
      <geometry>
        <mesh filename="../meshes/qbhand/ph_knuckle_yupzfront1.STL" scale="1 1 1"/>
      </geometry>
      <material name="qbhand/knuckle"/>
    </visual>
    <collision>
      <origin rpy="0 0 0" xyz="0 0 0"/>
      <geometry>
        <mesh filename="../meshes/qbhand/ph_knuckle_yupzfront1.STL" scale="1 1 1"/>
      </geometry>
    </collision>
  </link>
  <joint name="right_qbhand_ring_proximal_joint" type="revolute">
    <origin rpy="1.57 0 0" xyz="0.009 0 0"/>
    <parent link="right_qbhand_ring_knuckle_link"/>
    <child link="right_qbhand_ring_proximal_virtual_link"/>
    <axis xyz="0 0 -1"/>
    <dynamics damping="0.0" friction="0.0"/>
    <limit effort="100" lower="0.0" upper="0.785" velocity="100"/>
    <mimic joint="right_qbhand_synergy_joint" multiplier="0.785"/>
  </joint>
  <link name="right_qbhand_ring_proximal_virtual_link">
    <inertial>
      <origin rpy="0 0 0" xyz="0 0 0"/>
      <mass value="1e-4"/>
      <inertia ixx="1e-9" ixy="0.0" ixz="0.0" iyy="1e-9" iyz="0.0" izz="1e-9"/>
    </inertial>
  </link>
  <joint name="right_qbhand_ring_proximal_virtual_joint" type="revolute">
    <origin rpy="0 0 0" xyz="0.013 0 0"/>
    <parent link="right_qbhand_ring_proximal_virtual_link"/>
    <child link="right_qbhand_ring_proximal_link"/>
    <axis xyz="0 0 -1"/>
    <dynamics damping="0.0" friction="0.0"/>
    <limit effort="100" lower="0.0" upper="0.785" velocity="100"/>
    <mimic joint="right_qbhand_ring_proximal_joint" multiplier="1.0"/>
  </joint>
  <link name="right_qbhand_ring_proximal_link">
    <inertial>
      <mass value="0.0082"/>
      <origin rpy="0 0 0" xyz="8.7707437e-03 -1.7863138e-03 0.0"/>
      <inertia ixx="2.2722068e-07" ixy="1.1586053e-08" ixz="0.0" iyy="5.5947233e-07" iyz="0.0" izz="5.9562195e-07"/>
    </inertial>
    <visual>
      <origin rpy="0 0 0" xyz="0 0 0"/>
      <geometry>
        <mesh filename="../meshes/qbhand/ph_medium_yupzfront1.STL" scale="1 1 1"/>
      </geometry>
      <material name="qbhand/proximal"/>
    </visual>
    <collision>
      <origin rpy="0 0 0" xyz="0 0 0"/>
      <geometry>
        <mesh filename="../meshes/qbhand/ph_medium_yupzfront1.STL" scale="1 1 1"/>
      </geometry>
    </collision>
  </link>
  <joint name="right_qbhand_ring_middle_joint" type="revolute">
    <origin rpy="0 0 0" xyz="0.017 0 0"/>
    <parent link="right_qbhand_ring_proximal_link"/>
    <child link="right_qbhand_ring_middle_virtual_link"/>
    <axis xyz="0 0 -1"/>
    <dynamics damping="0.0" friction="0.0"/>
    <limit effort="100" lower="0.0" upper="0.785" velocity="100"/>
    <mimic joint="right_qbhand_synergy_joint" multiplier="0.785"/>
  </joint>
  <link name="right_qbhand_ring_middle_virtual_link">
    <inertial>
      <origin rpy="0 0 0" xyz="0 0 0"/>
      <mass value="1e-4"/>
      <inertia ixx="1e-9" ixy="0.0" ixz="0.0" iyy="1e-9" iyz="0.0" izz="1e-9"/>
    </inertial>
  </link>
  <joint name="right_qbhand_ring_middle_virtual_joint" type="revolute">
    <origin rpy="0 0 0" xyz="0.013 0 0"/>
    <parent link="right_qbhand_ring_middle_virtual_link"/>
    <child link="right_qbhand_ring_middle_link"/>
    <axis xyz="0 0 -1"/>
    <dynamics damping="0.0" friction="0.0"/>
    <limit effort="100" lower="0.0" upper="0.785" velocity="100"/>
    <mimic joint="right_qbhand_ring_middle_joint" multiplier="1.0"/>
  </joint>
  <link name="right_qbhand_ring_middle_link">
    <inertial>
      <mass value="0.0063"/>
      <origin rpy="0 0 0" xyz="4.7601567e-03 -1.3786947e-03 0.0"/>
      <inertia ixx="1.8024201e-07" ixy="5.756798e-09" ixz="0.0" iyy="2.3516266e-07" iyz="0.0" izz="2.691504e-07"/>
    </inertial>
    <visual>
      <origin rpy="0 0 0" xyz="0 0 0"/>
      <geometry>
        <mesh filename="../meshes/qbhand/ph_short_yupzfront1.STL" scale="1 1 1"/>
      </geometry>
      <material name="qbhand/middle"/>
    </visual>
    <collision>
      <origin rpy="0 0 0" xyz="0 0 0"/>
      <geometry>
        <mesh filename="../meshes/qbhand/ph_short_yupzfront1.STL" scale="1 1 1"/>
      </geometry>
    </collision>
  </link>
  <joint name="right_qbhand_ring_distal_joint" type="revolute">
    <origin rpy="0 0 0" xyz="0.009 0 0"/>
    <parent link="right_qbhand_ring_middle_link"/>
    <child link="right_qbhand_ring_distal_virtual_link"/>
    <axis xyz="0 0 -1"/>
    <dynamics damping="0.0" friction="0.0"/>
    <limit effort="100" lower="0.0" upper="0.785" velocity="100"/>
    <mimic joint="right_qbhand_synergy_joint" multiplier="0.785"/>
  </joint>
  <link name="right_qbhand_ring_distal_virtual_link">
    <inertial>
      <origin rpy="0 0 0" xyz="0 0 0"/>
      <mass value="1e-4"/>
      <inertia ixx="1e-9" ixy="0.0" ixz="0.0" iyy="1e-9" iyz="0.0" izz="1e-9"/>
    </inertial>
  </link>
  <joint name="right_qbhand_ring_distal_virtual_joint" type="revolute">
    <origin rpy="0 0 0" xyz="0.013 0 0"/>
    <parent link="right_qbhand_ring_distal_virtual_link"/>
    <child link="right_qbhand_ring_distal_link"/>
    <axis xyz="0 0 -1"/>
    <dynamics damping="0.0" friction="0.0"/>
    <limit effort="100" lower="0.0" upper="0.785" velocity="100"/>
    <mimic joint="right_qbhand_ring_distal_joint" multiplier="1.0"/>
  </joint>
  <link name="right_qbhand_ring_distal_link">
    <inertial>
      <mass value="0.009"/>
      <origin rpy="0 0 0" xyz="8.8025467e-03 -1.7219289e-03 0.0"/>
      <inertia ixx="2.6586142e-07" ixy="1.2416847e-08" ixz="0.0" iyy="5.9935767e-07" iyz="0.0" izz="6.6781963e-07"/>
    </inertial>
    <visual>
      <origin rpy="0 0 0" xyz="0 0 0"/>
      <geometry>
        <mesh filename="../meshes/qbhand/ph_distal_yupzfront1.STL" scale="1 1 1"/>
      </geometry>
      <material name="qbhand/distal"/>
    </visual>
    <collision>
      <origin rpy="0 0 0" xyz="0 0 0"/>
      <geometry>
        <mesh filename="../meshes/qbhand/ph_distal_yupzfront1.STL" scale="1 1 1"/>
      </geometry>
    </collision>
  </link>
  <joint name="right_qbhand_little_knuckle_joint" type="revolute">
    <origin rpy="0 0 1.57" xyz="0.04 -0.012 0.014"/>
    <parent link="right_qbhand_palm_link"/>
    <child link="right_qbhand_little_knuckle_link"/>
    <axis xyz="0 0 -1"/>
    <dynamics damping="0.0" friction="0.0"/>
    <limit effort="100" lower="-0.524" upper="0.524" velocity="100"/>
    <mimic joint="right_qbhand_synergy_joint" multiplier="0.4"/>
  </joint>
  <link name="right_qbhand_little_knuckle_link">
    <inertial>
      <mass value="0.0095"/>
      <origin rpy="0 0 0" xyz="4.2753603e-04  0.0 -1.4321738e-03"/>
      <inertia ixx="6.4337303e-07" ixy="0.0" ixz="-3.9373913e-08" iyy="1.1253771e-06" iyz="0.0" izz="7.2336948e-07"/>
    </inertial>
    <visual>
      <origin rpy="0 0 0" xyz="0 0 0"/>
      <geometry>
        <mesh filename="../meshes/qbhand/ph_knuckle_yupzfront1.STL" scale="1 1 1"/>
      </geometry>
      <material name="qbhand/knuckle"/>
    </visual>
    <collision>
      <origin rpy="0 0 0" xyz="0 0 0"/>
      <geometry>
        <mesh filename="../meshes/qbhand/ph_knuckle_yupzfront1.STL" scale="1 1 1"/>
      </geometry>
    </collision>
  </link>
  <joint name="right_qbhand_little_proximal_joint" type="revolute">
    <origin rpy="1.57 0 0" xyz="0.009 0 0"/>
    <parent link="right_qbhand_little_knuckle_link"/>
    <child link="right_qbhand_little_proximal_virtual_link"/>
    <axis xyz="0 0 -1"/>
    <dynamics damping="0.0" friction="0.0"/>
    <limit effort="100" lower="0.0" upper="0.785" velocity="100"/>
    <mimic joint="right_qbhand_synergy_joint" multiplier="0.785"/>
  </joint>
  <link name="right_qbhand_little_proximal_virtual_link">
    <inertial>
      <origin rpy="0 0 0" xyz="0 0 0"/>
      <mass value="1e-4"/>
      <inertia ixx="1e-9" ixy="0.0" ixz="0.0" iyy="1e-9" iyz="0.0" izz="1e-9"/>
    </inertial>
  </link>
  <joint name="right_qbhand_little_proximal_virtual_joint" type="revolute">
    <origin rpy="0 0 0" xyz="0.013 0 0"/>
    <parent link="right_qbhand_little_proximal_virtual_link"/>
    <child link="right_qbhand_little_proximal_link"/>
    <axis xyz="0 0 -1"/>
    <dynamics damping="0.0" friction="0.0"/>
    <limit effort="100" lower="0.0" upper="0.785" velocity="100"/>
    <mimic joint="right_qbhand_little_proximal_joint" multiplier="1.0"/>
  </joint>
  <link name="right_qbhand_little_proximal_link">
    <inertial>
      <mass value="0.0063"/>
      <origin rpy="0 0 0" xyz="4.7601567e-03 -1.3786947e-03 0.0"/>
      <inertia ixx="1.8024201e-07" ixy="5.756798e-09" ixz="0.0" iyy="2.3516266e-07" iyz="0.0" izz="2.691504e-07"/>
    </inertial>
    <visual>
      <origin rpy="0 0 0" xyz="0 0 0"/>
      <geometry>
        <mesh filename="../meshes/qbhand/ph_short_yupzfront1.STL" scale="1 1 1"/>
      </geometry>
      <material name="qbhand/proximal"/>
    </visual>
    <collision>
      <origin rpy="0 0 0" xyz="0 0 0"/>
      <geometry>
        <mesh filename="../meshes/qbhand/ph_short_yupzfront1.STL" scale="1 1 1"/>
      </geometry>
    </collision>
  </link>
  <joint name="right_qbhand_little_middle_joint" type="revolute">
    <origin rpy="0 0 0" xyz="0.009 0 0"/>
    <parent link="right_qbhand_little_proximal_link"/>
    <child link="right_qbhand_little_middle_virtual_link"/>
    <axis xyz="0 0 -1"/>
    <dynamics damping="0.0" friction="0.0"/>
    <limit effort="100" lower="0.0" upper="0.785" velocity="100"/>
    <mimic joint="right_qbhand_synergy_joint" multiplier="0.785"/>
  </joint>
  <link name="right_qbhand_little_middle_virtual_link">
    <inertial>
      <origin rpy="0 0 0" xyz="0 0 0"/>
      <mass value="1e-4"/>
      <inertia ixx="1e-9" ixy="0.0" ixz="0.0" iyy="1e-9" iyz="0.0" izz="1e-9"/>
    </inertial>
  </link>
  <joint name="right_qbhand_little_middle_virtual_joint" type="revolute">
    <origin rpy="0 0 0" xyz="0.013 0 0"/>
    <parent link="right_qbhand_little_middle_virtual_link"/>
    <child link="right_qbhand_little_middle_link"/>
    <axis xyz="0 0 -1"/>
    <dynamics damping="0.0" friction="0.0"/>
    <limit effort="100" lower="0.0" upper="0.785" velocity="100"/>
    <mimic joint="right_qbhand_little_middle_joint" multiplier="1.0"/>
  </joint>
  <link name="right_qbhand_little_middle_link">
    <inertial>
      <mass value="0.0063"/>
      <origin rpy="0 0 0" xyz="4.7601567e-03 -1.3786947e-03 0.0"/>
      <inertia ixx="1.8024201e-07" ixy="5.756798e-09" ixz="0.0" iyy="2.3516266e-07" iyz="0.0" izz="2.691504e-07"/>
    </inertial>
    <visual>
      <origin rpy="0 0 0" xyz="0 0 0"/>
      <geometry>
        <mesh filename="../meshes/qbhand/ph_short_yupzfront1.STL" scale="1 1 1"/>
      </geometry>
      <material name="qbhand/middle"/>
    </visual>
    <collision>
      <origin rpy="0 0 0" xyz="0 0 0"/>
      <geometry>
        <mesh filename="../meshes/qbhand/ph_short_yupzfront1.STL" scale="1 1 1"/>
      </geometry>
    </collision>
  </link>
  <joint name="right_qbhand_little_distal_joint" type="revolute">
    <origin rpy="0 0 0" xyz="0.009 0 0"/>
    <parent link="right_qbhand_little_middle_link"/>
    <child link="right_qbhand_little_distal_virtual_link"/>
    <axis xyz="0 0 -1"/>
    <dynamics damping="0.0" friction="0.0"/>
    <limit effort="100" lower="0.0" upper="0.785" velocity="100"/>
    <mimic joint="right_qbhand_synergy_joint" multiplier="0.785"/>
  </joint>
  <link name="right_qbhand_little_distal_virtual_link">
    <inertial>
      <origin rpy="0 0 0" xyz="0 0 0"/>
      <mass value="1e-4"/>
      <inertia ixx="1e-9" ixy="0.0" ixz="0.0" iyy="1e-9" iyz="0.0" izz="1e-9"/>
    </inertial>
  </link>
  <joint name="right_qbhand_little_distal_virtual_joint" type="revolute">
    <origin rpy="0 0 0" xyz="0.013 0 0"/>
    <parent link="right_qbhand_little_distal_virtual_link"/>
    <child link="right_qbhand_little_distal_link"/>
    <axis xyz="0 0 -1"/>
    <dynamics damping="0.0" friction="0.0"/>
    <limit effort="100" lower="0.0" upper="0.785" velocity="100"/>
    <mimic joint="right_qbhand_little_distal_joint" multiplier="1.0"/>
  </joint>
  <link name="right_qbhand_little_distal_link">
    <inertial>
      <mass value="0.009"/>
      <origin rpy="0 0 0" xyz="8.8025467e-03 -1.7219289e-03 0.0"/>
      <inertia ixx="2.6586142e-07" ixy="1.2416847e-08" ixz="0.0" iyy="5.9935767e-07" iyz="0.0" izz="6.6781963e-07"/>
    </inertial>
    <visual>
      <origin rpy="0 0 0" xyz="0 0 0"/>
      <geometry>
        <mesh filename="../meshes/qbhand/ph_distal_yupzfront1.STL" scale="1 1 1"/>
      </geometry>
      <material name="qbhand/distal"/>
    </visual>
    <collision>
      <origin rpy="0 0 0" xyz="0 0 0"/>
      <geometry>
        <mesh filename="../meshes/qbhand/ph_distal_yupzfront1.STL" scale="1 1 1"/>
      </geometry>
    </collision>
  </link>
  <joint name="right_qbhand_end_effector_fixed_joint" type="fixed">
    <origin rpy="-1.57 0 0" xyz="-0.03 0.060 0.142"/>
    <parent link="right_qbhand_base_link"/>
    <child link="right_qbhand_end_effector_link"/>
  </joint>
  <link name="right_qbhand_end_effector_link"/>
</robot>
